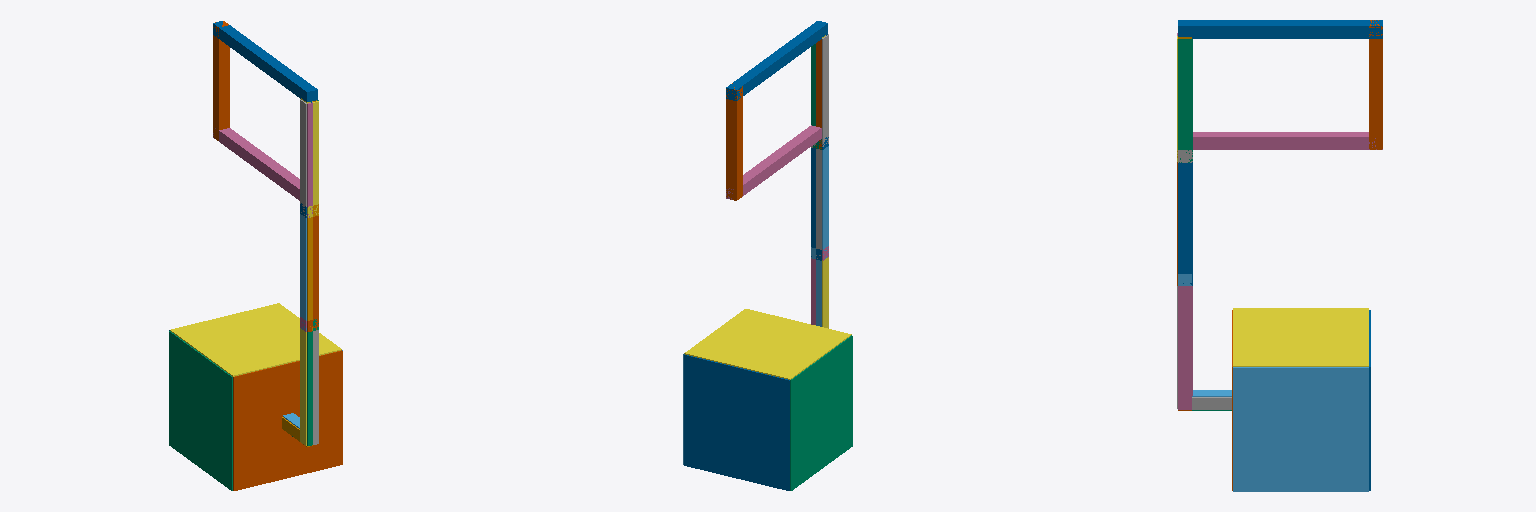
--- Render facts (derived) ---
3 views of the same robot in one strip: view 1: azimuth 30°, elevation 25°; view 2: azimuth 150°, elevation 25°; view 3: azimuth 270°, elevation 25° (orthographic).
Robot: robot — 93 links, 92 joints (3 continuous, 89 fixed); root link body; default pose: every joint at zero.
Visible links, largest first — view 1: body_sensor_0_right, body_sensor_0_stop, body_sensor_0_top, hand_2, hand_4, hand_3, arm_1_sensor_1_stop, hand_1_sensor_1_stop, arm_2_sensor_1_stop, arm_1_sensor_1_right, arm_1_sensor_0_right, arm_2_sensor_1_right (+3 smaller); view 2: body_sensor_0_left, body_sensor_0_stop, body_sensor_0_top, hand_2, hand_3, hand_4, hand_1_sensor_1_stop, arm_2_sensor_1_stop, arm_2_sensor_0_left, hand_1_sensor_0_left; view 3: body_sensor_0_start, body_sensor_0_top, hand_2, hand_4, arm_1_sensor_0_start, hand_3, hand_1_sensor_0_start, arm_2_sensor_0_start.
Link boxes in pixels (box(x1,y1,x2,y2)): body_sensor_0_right: box(233, 350, 342, 490); body_sensor_0_stop: box(169, 331, 232, 490); body_sensor_0_top: box(170, 303, 341, 376); hand_2: box(213, 21, 317, 102); hand_4: box(213, 128, 299, 200); hand_3: box(213, 21, 229, 140); arm_1_sensor_1_stop: box(300, 328, 306, 445); hand_1_sensor_1_stop: box(300, 99, 306, 216); arm_2_sensor_1_stop: box(300, 214, 306, 330); arm_1_sensor_1_right: box(313, 330, 318, 444); arm_1_sensor_0_right: box(307, 331, 312, 445); arm_2_sensor_1_right: box(313, 216, 318, 329); body_sensor_0_left: box(684, 354, 789, 490); body_sensor_0_stop: box(790, 335, 852, 490); body_sensor_0_top: box(684, 309, 851, 379); hand_2: box(726, 21, 827, 100); hand_3: box(726, 83, 742, 200); hand_4: box(726, 125, 821, 199); hand_1_sensor_1_stop: box(822, 34, 828, 146); arm_2_sensor_1_stop: box(822, 146, 828, 258); arm_2_sensor_0_left: box(816, 149, 821, 258); hand_1_sensor_0_left: box(816, 39, 821, 148); body_sensor_0_start: box(1233, 367, 1368, 491); body_sensor_0_top: box(1233, 308, 1368, 366); hand_2: box(1178, 20, 1382, 38); hand_4: box(1193, 132, 1382, 149); arm_1_sensor_0_start: box(1178, 286, 1191, 409); hand_3: box(1369, 20, 1382, 149); hand_1_sensor_0_start: box(1178, 39, 1191, 162); arm_2_sensor_0_start: box(1178, 163, 1191, 284).
Size in the robot's own frame: 1.02 by 1.51 by 3.55 metres.
Geometry: primitives only (box / cylinder / sphere), no mesh files.

The robot description file, URDF, robot "robot":
<?xml version="1.0"?>
<robot name="robot">


    <!-- body -->
    <link name="body">
        <inertial>
            <origin xyz="0 0 0" rpy="0 0 0"/>
            <mass value="100"/>
            <inertia ixx=".1" ixy=".1" ixz=".1" iyy=".1" iyz=".1" izz=".1"/>
        </inertial>
        <visual>
            <origin xyz="0 0 0" rpy="0 0 0"/>
            <geometry>
                <box size="1 1 1"/>
            </geometry>
        </visual>
        <collision>
            <origin xyz="0 0 0" rpy="0 0 0"/>
            <geometry>
                <box size="1 1 1"/>
            </geometry>
        </collision>
    </link>


    <!-- body_sensor_0_start -->
    <link name="body_sensor_0_start">
        <inertial>
            <origin xyz="0 0 0" rpy="0 0 0"/>
            <mass value="0"/>
            <inertia ixx=".1" ixy=".1" ixz=".1" iyy=".1" iyz=".1" izz=".1"/>
        </inertial>
        <visual>
            <origin xyz="0 0 0" rpy="0 0 0"/>
            <geometry>
                <box size="0.02 1 1"/>
            </geometry>
        </visual>
        <collision>
            <origin xyz="0 0 0" rpy="0 0 0"/>
            <geometry>
                <box size="0.02 1 1"/>
            </geometry>
        </collision>
    </link>


    <!-- Joint: body, body_sensor_0_start -->
    <joint name="body_body_sensor_0_start_joint" type="fixed"> 
        <parent link="body"/> 
        <child link="body_sensor_0_start"/> 
        <origin xyz="0.5 0 0" rpy="0 0 0"/> 
        <axis xyz="1 0 0"/> 
    </joint>


    <!-- body_sensor_0_stop -->
    <link name="body_sensor_0_stop">
        <inertial>
            <origin xyz="0 0 0" rpy="0 0 0"/>
            <mass value="0"/>
            <inertia ixx=".1" ixy=".1" ixz=".1" iyy=".1" iyz=".1" izz=".1"/>
        </inertial>
        <visual>
            <origin xyz="0 0 0" rpy="0 0 0"/>
            <geometry>
                <box size="0.02 1 1"/>
            </geometry>
        </visual>
        <collision>
            <origin xyz="0 0 0" rpy="0 0 0"/>
            <geometry>
                <box size="0.02 1 1"/>
            </geometry>
        </collision>
    </link>


    <!-- Joint: body, body_sensor_0_stop -->
    <joint name="body_body_sensor_0_stop_joint" type="fixed"> 
        <parent link="body"/> 
        <child link="body_sensor_0_stop"/> 
        <origin xyz="-0.5 0 0" rpy="0 0 0"/> 
        <axis xyz="1 0 0"/> 
    </joint>


    <!-- body_sensor_0_top -->
    <link name="body_sensor_0_top">
        <inertial>
            <origin xyz="0 0 0" rpy="0 0 0"/>
            <mass value="0"/>
            <inertia ixx=".1" ixy=".1" ixz=".1" iyy=".1" iyz=".1" izz=".1"/>
        </inertial>
        <visual>
            <origin xyz="0 0 0" rpy="0 0 0"/>
            <geometry>
                <box size="1.0 1 0.02"/>
            </geometry>
        </visual>
        <collision>
            <origin xyz="0 0 0" rpy="0 0 0"/>
            <geometry>
                <box size="1.0 1 0.02"/>
            </geometry>
        </collision>
    </link>


    <!-- Joint: body, body_sensor_0_top -->
    <joint name="body_body_sensor_0_top_joint" type="fixed"> 
        <parent link="body"/> 
        <child link="body_sensor_0_top"/> 
        <origin xyz="0 0 0.5" rpy="0 0 0"/> 
        <axis xyz="1 0 0"/> 
    </joint>


    <!-- body_sensor_0_left -->
    <link name="body_sensor_0_left">
        <inertial>
            <origin xyz="0 0 0" rpy="0 0 0"/>
            <mass value="0"/>
            <inertia ixx=".1" ixy=".1" ixz=".1" iyy=".1" iyz=".1" izz=".1"/>
        </inertial>
        <visual>
            <origin xyz="0 0 0" rpy="0 0 0"/>
            <geometry>
                <box size="1.0 0.02 1"/>
            </geometry>
        </visual>
        <collision>
            <origin xyz="0 0 0" rpy="0 0 0"/>
            <geometry>
                <box size="1.0 0.02 1"/>
            </geometry>
        </collision>
    </link>


    <!-- Joint: body, body_sensor_0_left -->
    <joint name="body_body_sensor_0_left_joint" type="fixed"> 
        <parent link="body"/> 
        <child link="body_sensor_0_left"/> 
        <origin xyz="0 0.5 0" rpy="0 0 0"/> 
        <axis xyz="1 0 0"/> 
    </joint>


    <!-- body_sensor_0_right -->
    <link name="body_sensor_0_right">
        <inertial>
            <origin xyz="0 0 0" rpy="0 0 0"/>
            <mass value="0"/>
            <inertia ixx=".1" ixy=".1" ixz=".1" iyy=".1" iyz=".1" izz=".1"/>
        </inertial>
        <visual>
            <origin xyz="0 0 0" rpy="0 0 0"/>
            <geometry>
                <box size="1.0 0.02 1"/>
            </geometry>
        </visual>
        <collision>
            <origin xyz="0 0 0" rpy="0 0 0"/>
            <geometry>
                <box size="1.0 0.02 1"/>
            </geometry>
        </collision>
    </link>


    <!-- Joint: body, body_sensor_0_right -->
    <joint name="body_body_sensor_0_right_joint" type="fixed"> 
        <parent link="body"/> 
        <child link="body_sensor_0_right"/> 
        <origin xyz="0 -0.5 0" rpy="0 0 0"/> 
        <axis xyz="1 0 0"/> 
    </joint>


    <!-- shoulder -->
    <link name="shoulder">
        <inertial>
            <origin xyz="0 0 0" rpy="0 0 0"/>
            <mass value="0.1"/>
            <inertia ixx=".1" ixy=".1" ixz=".1" iyy=".1" iyz=".1" izz=".1"/>
        </inertial>
        <visual>
            <origin xyz="0 0 0" rpy="0 0 0"/>
            <geometry>
                <box size="0.1 0.3 0.1"/>
            </geometry>
        </visual>
        <collision>
            <origin xyz="0 0 0" rpy="0 0 0"/>
            <geometry>
                <box size="0.1 0.3 0.1"/>
            </geometry>
        </collision>
    </link>


    <!-- shoulder_sensor_0_start -->
    <link name="shoulder_sensor_0_start">
        <inertial>
            <origin xyz="0 0 0" rpy="0 0 0"/>
            <mass value="0"/>
            <inertia ixx=".1" ixy=".1" ixz=".1" iyy=".1" iyz=".1" izz=".1"/>
        </inertial>
        <visual>
            <origin xyz="0 0 0" rpy="0 0 0"/>
            <geometry>
                <box size="0.02 0.3 0.1"/>
            </geometry>
        </visual>
        <collision>
            <origin xyz="0 0 0" rpy="0 0 0"/>
            <geometry>
                <box size="0.02 0.3 0.1"/>
            </geometry>
        </collision>
    </link>


    <!-- Joint: shoulder, shoulder_sensor_0_start -->
    <joint name="shoulder_shoulder_sensor_0_start_joint" type="fixed"> 
        <parent link="shoulder"/> 
        <child link="shoulder_sensor_0_start"/> 
        <origin xyz="0.05 0 0" rpy="0 0 0"/> 
        <axis xyz="0 -1 0"/> 
    </joint>


    <!-- shoulder_sensor_0_stop -->
    <link name="shoulder_sensor_0_stop">
        <inertial>
            <origin xyz="0 0 0" rpy="0 0 0"/>
            <mass value="0"/>
            <inertia ixx=".1" ixy=".1" ixz=".1" iyy=".1" iyz=".1" izz=".1"/>
        </inertial>
        <visual>
            <origin xyz="0 0 0" rpy="0 0 0"/>
            <geometry>
                <box size="0.02 0.3 0.1"/>
            </geometry>
        </visual>
        <collision>
            <origin xyz="0 0 0" rpy="0 0 0"/>
            <geometry>
                <box size="0.02 0.3 0.1"/>
            </geometry>
        </collision>
    </link>


    <!-- Joint: shoulder, shoulder_sensor_0_stop -->
    <joint name="shoulder_shoulder_sensor_0_stop_joint" type="fixed"> 
        <parent link="shoulder"/> 
        <child link="shoulder_sensor_0_stop"/> 
        <origin xyz="-0.05 0 0" rpy="0 0 0"/> 
        <axis xyz="0 -1 0"/> 
    </joint>


    <!-- shoulder_sensor_0_top -->
    <link name="shoulder_sensor_0_top">
        <inertial>
            <origin xyz="0 0 0" rpy="0 0 0"/>
            <mass value="0"/>
            <inertia ixx=".1" ixy=".1" ixz=".1" iyy=".1" iyz=".1" izz=".1"/>
        </inertial>
        <visual>
            <origin xyz="0 0 0" rpy="0 0 0"/>
            <geometry>
                <box size="0.1 0.3 0.02"/>
            </geometry>
        </visual>
        <collision>
            <origin xyz="0 0 0" rpy="0 0 0"/>
            <geometry>
                <box size="0.1 0.3 0.02"/>
            </geometry>
        </collision>
    </link>


    <!-- Joint: shoulder, shoulder_sensor_0_top -->
    <joint name="shoulder_shoulder_sensor_0_top_joint" type="fixed"> 
        <parent link="shoulder"/> 
        <child link="shoulder_sensor_0_top"/> 
        <origin xyz="0 0 0.05" rpy="0 0 0"/> 
        <axis xyz="0 -1 0"/> 
    </joint>


    <!-- shoulder_sensor_0_bottom -->
    <link name="shoulder_sensor_0_bottom">
        <inertial>
            <origin xyz="0 0 0" rpy="0 0 0"/>
            <mass value="0"/>
            <inertia ixx=".1" ixy=".1" ixz=".1" iyy=".1" iyz=".1" izz=".1"/>
        </inertial>
        <visual>
            <origin xyz="0 0 0" rpy="0 0 0"/>
            <geometry>
                <box size="0.1 0.3 0.02"/>
            </geometry>
        </visual>
        <collision>
            <origin xyz="0 0 0" rpy="0 0 0"/>
            <geometry>
                <box size="0.1 0.3 0.02"/>
            </geometry>
        </collision>
    </link>


    <!-- Joint: shoulder, shoulder_sensor_0_bottom -->
    <joint name="shoulder_shoulder_sensor_0_bottom_joint" type="fixed"> 
        <parent link="shoulder"/> 
        <child link="shoulder_sensor_0_bottom"/> 
        <origin xyz="0 0 -0.05" rpy="0 0 0"/> 
        <axis xyz="0 -1 0"/> 
    </joint>


    <!-- shoulder_sensor_0_left -->
    <link name="shoulder_sensor_0_left">
        <inertial>
            <origin xyz="0 0 0" rpy="0 0 0"/>
            <mass value="0"/>
            <inertia ixx=".1" ixy=".1" ixz=".1" iyy=".1" iyz=".1" izz=".1"/>
        </inertial>
        <visual>
            <origin xyz="0 0 0" rpy="0 0 0"/>
            <geometry>
                <box size="0.1 0.02 0.1"/>
            </geometry>
        </visual>
        <collision>
            <origin xyz="0 0 0" rpy="0 0 0"/>
            <geometry>
                <box size="0.1 0.02 0.1"/>
            </geometry>
        </collision>
    </link>


    <!-- Joint: shoulder, shoulder_sensor_0_left -->
    <joint name="shoulder_shoulder_sensor_0_left_joint" type="fixed"> 
        <parent link="shoulder"/> 
        <child link="shoulder_sensor_0_left"/> 
        <origin xyz="0 0.15 0" rpy="0 0 0"/> 
        <axis xyz="0 -1 0"/> 
    </joint>


    <!-- shoulder_sensor_0_right -->
    <link name="shoulder_sensor_0_right">
        <inertial>
            <origin xyz="0 0 0" rpy="0 0 0"/>
            <mass value="0"/>
            <inertia ixx=".1" ixy=".1" ixz=".1" iyy=".1" iyz=".1" izz=".1"/>
        </inertial>
        <visual>
            <origin xyz="0 0 0" rpy="0 0 0"/>
            <geometry>
                <box size="0.1 0.02 0.1"/>
            </geometry>
        </visual>
        <collision>
            <origin xyz="0 0 0" rpy="0 0 0"/>
            <geometry>
                <box size="0.1 0.02 0.1"/>
            </geometry>
        </collision>
    </link>


    <!-- Joint: shoulder, shoulder_sensor_0_right -->
    <joint name="shoulder_shoulder_sensor_0_right_joint" type="fixed"> 
        <parent link="shoulder"/> 
        <child link="shoulder_sensor_0_right"/> 
        <origin xyz="0 -0.15 0" rpy="0 0 0"/> 
        <axis xyz="0 -1 0"/> 
    </joint>


    <!-- Joint: body, shoulder -->
    <joint name="body_shoulder_joint" type="continuous"> 
        <parent link="body"/> 
        <child link="shoulder"/> 
        <origin xyz="0 -0.65 0" rpy="0 0 0"/> 
        <axis xyz="0 -1 0"/> 
    </joint>


    <!-- arm_1 -->
    <link name="arm_1">
        <inertial>
            <origin xyz="0 0 0" rpy="0 0 0"/>
            <mass value="0.1"/>
            <inertia ixx=".1" ixy=".1" ixz=".1" iyy=".1" iyz=".1" izz=".1"/>
        </inertial>
        <visual>
            <origin xyz="0 0 0" rpy="0 0 0"/>
            <geometry>
                <box size="0.1 0.1 1"/>
            </geometry>
        </visual>
        <collision>
            <origin xyz="0 0 0" rpy="0 0 0"/>
            <geometry>
                <box size="0.1 0.1 1"/>
            </geometry>
        </collision>
    </link>


    <!-- arm_1_sensor_0_start -->
    <link name="arm_1_sensor_0_start">
        <inertial>
            <origin xyz="0 0 0" rpy="0 0 0"/>
            <mass value="0"/>
            <inertia ixx=".1" ixy=".1" ixz=".1" iyy=".1" iyz=".1" izz=".1"/>
        </inertial>
        <visual>
            <origin xyz="0 0 0" rpy="0 0 0"/>
            <geometry>
                <box size="0.02 0.1 1"/>
            </geometry>
        </visual>
        <collision>
            <origin xyz="0 0 0" rpy="0 0 0"/>
            <geometry>
                <box size="0.02 0.1 1"/>
            </geometry>
        </collision>
    </link>


    <!-- Joint: arm_1, arm_1_sensor_0_start -->
    <joint name="arm_1_arm_1_sensor_0_start_joint" type="fixed"> 
        <parent link="arm_1"/> 
        <child link="arm_1_sensor_0_start"/> 
        <origin xyz="0.05 0 0" rpy="0 0 0"/> 
        <axis xyz="1 0 0"/> 
    </joint>


    <!-- arm_1_sensor_0_top -->
    <link name="arm_1_sensor_0_top">
        <inertial>
            <origin xyz="0 0 0" rpy="0 0 0"/>
            <mass value="0"/>
            <inertia ixx=".1" ixy=".1" ixz=".1" iyy=".1" iyz=".1" izz=".1"/>
        </inertial>
        <visual>
            <origin xyz="0 0 0" rpy="0 0 0"/>
            <geometry>
                <box size="0.05 0.1 0.02"/>
            </geometry>
        </visual>
        <collision>
            <origin xyz="0 0 0" rpy="0 0 0"/>
            <geometry>
                <box size="0.05 0.1 0.02"/>
            </geometry>
        </collision>
    </link>


    <!-- Joint: arm_1, arm_1_sensor_0_top -->
    <joint name="arm_1_arm_1_sensor_0_top_joint" type="fixed"> 
        <parent link="arm_1"/> 
        <child link="arm_1_sensor_0_top"/> 
        <origin xyz="-0.025 0 0.5" rpy="0 0 0"/> 
        <axis xyz="1 0 0"/> 
    </joint>


    <!-- arm_1_sensor_0_bottom -->
    <link name="arm_1_sensor_0_bottom">
        <inertial>
            <origin xyz="0 0 0" rpy="0 0 0"/>
            <mass value="0"/>
            <inertia ixx=".1" ixy=".1" ixz=".1" iyy=".1" iyz=".1" izz=".1"/>
        </inertial>
        <visual>
            <origin xyz="0 0 0" rpy="0 0 0"/>
            <geometry>
                <box size="0.05 0.1 0.02"/>
            </geometry>
        </visual>
        <collision>
            <origin xyz="0 0 0" rpy="0 0 0"/>
            <geometry>
                <box size="0.05 0.1 0.02"/>
            </geometry>
        </collision>
    </link>


    <!-- Joint: arm_1, arm_1_sensor_0_bottom -->
    <joint name="arm_1_arm_1_sensor_0_bottom_joint" type="fixed"> 
        <parent link="arm_1"/> 
        <child link="arm_1_sensor_0_bottom"/> 
        <origin xyz="-0.025 0 -0.5" rpy="0 0 0"/> 
        <axis xyz="1 0 0"/> 
    </joint>


    <!-- arm_1_sensor_0_left -->
    <link name="arm_1_sensor_0_left">
        <inertial>
            <origin xyz="0 0 0" rpy="0 0 0"/>
            <mass value="0"/>
            <inertia ixx=".1" ixy=".1" ixz=".1" iyy=".1" iyz=".1" izz=".1"/>
        </inertial>
        <visual>
            <origin xyz="0 0 0" rpy="0 0 0"/>
            <geometry>
                <box size="0.05 0.02 1"/>
            </geometry>
        </visual>
        <collision>
            <origin xyz="0 0 0" rpy="0 0 0"/>
            <geometry>
                <box size="0.05 0.02 1"/>
            </geometry>
        </collision>
    </link>


    <!-- Joint: arm_1, arm_1_sensor_0_left -->
    <joint name="arm_1_arm_1_sensor_0_left_joint" type="fixed"> 
        <parent link="arm_1"/> 
        <child link="arm_1_sensor_0_left"/> 
        <origin xyz="-0.025 0.05 0" rpy="0 0 0"/> 
        <axis xyz="1 0 0"/> 
    </joint>


    <!-- arm_1_sensor_0_right -->
    <link name="arm_1_sensor_0_right">
        <inertial>
            <origin xyz="0 0 0" rpy="0 0 0"/>
            <mass value="0"/>
            <inertia ixx=".1" ixy=".1" ixz=".1" iyy=".1" iyz=".1" izz=".1"/>
        </inertial>
        <visual>
            <origin xyz="0 0 0" rpy="0 0 0"/>
            <geometry>
                <box size="0.05 0.02 1"/>
            </geometry>
        </visual>
        <collision>
            <origin xyz="0 0 0" rpy="0 0 0"/>
            <geometry>
                <box size="0.05 0.02 1"/>
            </geometry>
        </collision>
    </link>


    <!-- Joint: arm_1, arm_1_sensor_0_right -->
    <joint name="arm_1_arm_1_sensor_0_right_joint" type="fixed"> 
        <parent link="arm_1"/> 
        <child link="arm_1_sensor_0_right"/> 
        <origin xyz="-0.025 -0.05 0" rpy="0 0 0"/> 
        <axis xyz="1 0 0"/> 
    </joint>


    <!-- arm_1_sensor_1_stop -->
    <link name="arm_1_sensor_1_stop">
        <inertial>
            <origin xyz="0 0 0" rpy="0 0 0"/>
            <mass value="0"/>
            <inertia ixx=".1" ixy=".1" ixz=".1" iyy=".1" iyz=".1" izz=".1"/>
        </inertial>
        <visual>
            <origin xyz="0 0 0" rpy="0 0 0"/>
            <geometry>
                <box size="0.02 0.1 1"/>
            </geometry>
        </visual>
        <collision>
            <origin xyz="0 0 0" rpy="0 0 0"/>
            <geometry>
                <box size="0.02 0.1 1"/>
            </geometry>
        </collision>
    </link>


    <!-- Joint: arm_1, arm_1_sensor_1_stop -->
    <joint name="arm_1_arm_1_sensor_1_stop_joint" type="fixed"> 
        <parent link="arm_1"/> 
        <child link="arm_1_sensor_1_stop"/> 
        <origin xyz="-0.05 0 0" rpy="0 0 0"/> 
        <axis xyz="1 0 0"/> 
    </joint>


    <!-- arm_1_sensor_1_top -->
    <link name="arm_1_sensor_1_top">
        <inertial>
            <origin xyz="0 0 0" rpy="0 0 0"/>
            <mass value="0"/>
            <inertia ixx=".1" ixy=".1" ixz=".1" iyy=".1" iyz=".1" izz=".1"/>
        </inertial>
        <visual>
            <origin xyz="0 0 0" rpy="0 0 0"/>
            <geometry>
                <box size="0.05 0.1 0.02"/>
            </geometry>
        </visual>
        <collision>
            <origin xyz="0 0 0" rpy="0 0 0"/>
            <geometry>
                <box size="0.05 0.1 0.02"/>
            </geometry>
        </collision>
    </link>


    <!-- Joint: arm_1, arm_1_sensor_1_top -->
    <joint name="arm_1_arm_1_sensor_1_top_joint" type="fixed"> 
        <parent link="arm_1"/> 
        <child link="arm_1_sensor_1_top"/> 
        <origin xyz="0.025 0 0.5" rpy="0 0 0"/> 
        <axis xyz="1 0 0"/> 
    </joint>


    <!-- arm_1_sensor_1_bottom -->
    <link name="arm_1_sensor_1_bottom">
        <inertial>
            <origin xyz="0 0 0" rpy="0 0 0"/>
            <mass value="0"/>
            <inertia ixx=".1" ixy=".1" ixz=".1" iyy=".1" iyz=".1" izz=".1"/>
        </inertial>
        <visual>
            <origin xyz="0 0 0" rpy="0 0 0"/>
            <geometry>
                <box size="0.05 0.1 0.02"/>
            </geometry>
        </visual>
        <collision>
            <origin xyz="0 0 0" rpy="0 0 0"/>
            <geometry>
                <box size="0.05 0.1 0.02"/>
            </geometry>
        </collision>
    </link>


    <!-- Joint: arm_1, arm_1_sensor_1_bottom -->
    <joint name="arm_1_arm_1_sensor_1_bottom_joint" type="fixed"> 
        <parent link="arm_1"/> 
        <child link="arm_1_sensor_1_bottom"/> 
        <origin xyz="0.025 0 -0.5" rpy="0 0 0"/> 
        <axis xyz="1 0 0"/> 
    </joint>


    <!-- arm_1_sensor_1_left -->
    <link name="arm_1_sensor_1_left">
        <inertial>
            <origin xyz="0 0 0" rpy="0 0 0"/>
            <mass value="0"/>
            <inertia ixx=".1" ixy=".1" ixz=".1" iyy=".1" iyz=".1" izz=".1"/>
        </inertial>
        <visual>
            <origin xyz="0 0 0" rpy="0 0 0"/>
            <geometry>
                <box size="0.05 0.02 1"/>
            </geometry>
        </visual>
        <collision>
            <origin xyz="0 0 0" rpy="0 0 0"/>
            <geometry>
                <box size="0.05 0.02 1"/>
            </geometry>
        </collision>
    </link>


    <!-- Joint: arm_1, arm_1_sensor_1_left -->
    <joint name="arm_1_arm_1_sensor_1_left_joint" type="fixed"> 
        <parent link="arm_1"/> 
        <child link="arm_1_sensor_1_left"/> 
        <origin xyz="0.025 0.05 0" rpy="0 0 0"/> 
        <axis xyz="1 0 0"/> 
    </joint>


    <!-- arm_1_sensor_1_right -->
    <link name="arm_1_sensor_1_right">
        <inertial>
            <origin xyz="0 0 0" rpy="0 0 0"/>
            <mass value="0"/>
            <inertia ixx=".1" ixy=".1" ixz=".1" iyy=".1" iyz=".1" izz=".1"/>
        </inertial>
        <visual>
            <origin xyz="0 0 0" rpy="0 0 0"/>
            <geometry>
                <box size="0.05 0.02 1"/>
            </geometry>
        </visual>
        <collision>
            <origin xyz="0 0 0" rpy="0 0 0"/>
            <geometry>
                <box size="0.05 0.02 1"/>
            </geometry>
        </collision>
    </link>


    <!-- Joint: arm_1, arm_1_sensor_1_right -->
    <joint name="arm_1_arm_1_sensor_1_right_joint" type="fixed"> 
        <parent link="arm_1"/> 
        <child link="arm_1_sensor_1_right"/> 
        <origin xyz="0.025 -0.05 0" rpy="0 0 0"/> 
        <axis xyz="1 0 0"/> 
    </joint>


    <!-- Joint: shoulder, arm_1 -->
    <joint name="shoulder_arm_1_joint" type="fixed"> 
        <parent link="shoulder"/> 
        <child link="arm_1"/> 
        <origin xyz="0 -0.2 0.45" rpy="0 0 0"/> 
        <axis xyz="1 0 0"/> 
    </joint>


    <!-- elbow -->
    <link name="elbow">
        <inertial>
            <origin xyz="0 0 0" rpy="0 0 0"/>
            <mass value="0.1"/>
            <inertia ixx=".1" ixy=".1" ixz=".1" iyy=".1" iyz=".1" izz=".1"/>
        </inertial>
        <visual>
            <origin xyz="0 0 0" rpy="0 0 0"/>
            <geometry>
                <box size="0.1 0.1 0.1"/>
            </geometry>
        </visual>
        <collision>
            <origin xyz="0 0 0" rpy="0 0 0"/>
            <geometry>
                <box size="0.1 0.1 0.1"/>
            </geometry>
        </collision>
    </link>


    <!-- elbow_sensor_0_start -->
    <link name="elbow_sensor_0_start">
        <inertial>
            <origin xyz="0 0 0" rpy="0 0 0"/>
            <mass value="0"/>
            <inertia ixx=".1" ixy=".1" ixz=".1" iyy=".1" iyz=".1" izz=".1"/>
        </inertial>
        <visual>
            <origin xyz="0 0 0" rpy="0 0 0"/>
            <geometry>
                <box size="0.02 0.1 0.1"/>
            </geometry>
        </visual>
        <collision>
            <origin xyz="0 0 0" rpy="0 0 0"/>
            <geometry>
                <box size="0.02 0.1 0.1"/>
            </geometry>
        </collision>
    </link>


    <!-- Joint: elbow, elbow_sensor_0_start -->
    <joint name="elbow_elbow_sensor_0_start_joint" type="fixed"> 
        <parent link="elbow"/> 
        <child link="elbow_sensor_0_start"/> 
        <origin xyz="0.05 0 0" rpy="0 0 0"/> 
        <axis xyz="0 -1 0"/> 
    </joint>


    <!-- elbow_sensor_0_top -->
    <link name="elbow_sensor_0_top">
        <inertial>
            <origin xyz="0 0 0" rpy="0 0 0"/>
            <mass value="0"/>
            <inertia ixx=".1" ixy=".1" ixz=".1" iyy=".1" iyz=".1" izz=".1"/>
        </inertial>
        <visual>
            <origin xyz="0 0 0" rpy="0 0 0"/>
            <geometry>
                <box size="0.05 0.1 0.02"/>
            </geometry>
        </visual>
        <collision>
            <origin xyz="0 0 0" rpy="0 0 0"/>
            <geometry>
                <box size="0.05 0.1 0.02"/>
            </geometry>
        </collision>
    </link>


    <!-- Joint: elbow, elbow_sensor_0_top -->
    <joint name="elbow_elbow_sensor_0_top_joint" type="fixed"> 
        <parent link="elbow"/> 
        <child link="elbow_sensor_0_top"/> 
        <origin xyz="-0.025 0 0.05" rpy="0 0 0"/> 
        <axis xyz="0 -1 0"/> 
    </joint>


    <!-- elbow_sensor_0_bottom -->
    <link name="elbow_sensor_0_bottom">
        <inertial>
            <origin xyz="0 0 0" rpy="0 0 0"/>
            <mass value="0"/>
            <inertia ixx=".1" ixy=".1" ixz=".1" iyy=".1" iyz=".1" izz=".1"/>
        </inertial>
        <visual>
            <origin xyz="0 0 0" rpy="0 0 0"/>
            <geometry>
                <box size="0.05 0.1 0.02"/>
            </geometry>
        </visual>
        <collision>
            <origin xyz="0 0 0" rpy="0 0 0"/>
            <geometry>
                <box size="0.05 0.1 0.02"/>
            </geometry>
        </collision>
    </link>


    <!-- Joint: elbow, elbow_sensor_0_bottom -->
    <joint name="elbow_elbow_sensor_0_bottom_joint" type="fixed"> 
        <parent link="elbow"/> 
        <child link="elbow_sensor_0_bottom"/> 
        <origin xyz="-0.025 0 -0.05" rpy="0 0 0"/> 
        <axis xyz="0 -1 0"/> 
    </joint>


    <!-- elbow_sensor_0_left -->
    <link name="elbow_sensor_0_left">
        <inertial>
            <origin xyz="0 0 0" rpy="0 0 0"/>
            <mass value="0"/>
            <inertia ixx=".1" ixy=".1" ixz=".1" iyy=".1" iyz=".1" izz=".1"/>
        </inertial>
        <visual>
            <origin xyz="0 0 0" rpy="0 0 0"/>
            <geometry>
                <box size="0.05 0.02 0.1"/>
            </geometry>
        </visual>
        <collision>
            <origin xyz="0 0 0" rpy="0 0 0"/>
            <geometry>
                <box size="0.05 0.02 0.1"/>
            </geometry>
        </collision>
    </link>


    <!-- Joint: elbow, elbow_sensor_0_left -->
    <joint name="elbow_elbow_sensor_0_left_joint" type="fixed"> 
        <parent link="elbow"/> 
        <child link="elbow_sensor_0_left"/> 
        <origin xyz="-0.025 0.05 0" rpy="0 0 0"/> 
        <axis xyz="0 -1 0"/> 
    </joint>


    <!-- elbow_sensor_0_right -->
    <link name="elbow_sensor_0_right">
        <inertial>
            <origin xyz="0 0 0" rpy="0 0 0"/>
            <mass value="0"/>
            <inertia ixx=".1" ixy=".1" ixz=".1" iyy=".1" iyz=".1" izz=".1"/>
        </inertial>
        <visual>
            <origin xyz="0 0 0" rpy="0 0 0"/>
            <geometry>
                <box size="0.05 0.02 0.1"/>
            </geometry>
        </visual>
        <collision>
            <origin xyz="0 0 0" rpy="0 0 0"/>
            <geometry>
                <box size="0.05 0.02 0.1"/>
            </geometry>
        </collision>
    </link>


    <!-- Joint: elbow, elbow_sensor_0_right -->
    <joint name="elbow_elbow_sensor_0_right_joint" type="fixed"> 
        <parent link="elbow"/> 
        <child link="elbow_sensor_0_right"/> 
        <origin xyz="-0.025 -0.05 0" rpy="0 0 0"/> 
        <axis xyz="0 -1 0"/> 
    </joint>


    <!-- elbow_sensor_1_stop -->
    <link name="elbow_sensor_1_stop">
        <inertial>
            <origin xyz="0 0 0" rpy="0 0 0"/>
            <mass value="0"/>
            <inertia ixx=".1" ixy=".1" ixz=".1" iyy=".1" iyz=".1" izz=".1"/>
        </inertial>
        <visual>
            <origin xyz="0 0 0" rpy="0 0 0"/>
            <geometry>
                <box size="0.02 0.1 0.1"/>
            </geometry>
        </visual>
        <collision>
            <origin xyz="0 0 0" rpy="0 0 0"/>
            <geometry>
                <box size="0.02 0.1 0.1"/>
            </geometry>
        </collision>
    </link>


    <!-- Joint: elbow, elbow_sensor_1_stop -->
    <joint name="elbow_elbow_sensor_1_stop_joint" type="fixed"> 
        <parent link="elbow"/> 
        <child link="elbow_sensor_1_stop"/> 
        <origin xyz="-0.05 0 0" rpy="0 0 0"/> 
        <axis xyz="0 -1 0"/> 
    </joint>


    <!-- elbow_sensor_1_top -->
    <link name="elbow_sensor_1_top">
        <inertial>
            <origin xyz="0 0 0" rpy="0 0 0"/>
            <mass value="0"/>
            <inertia ixx=".1" ixy=".1" ixz=".1" iyy=".1" iyz=".1" izz=".1"/>
        </inertial>
        <visual>
            <origin xyz="0 0 0" rpy="0 0 0"/>
            <geometry>
                <box size="0.05 0.1 0.02"/>
            </geometry>
        </visual>
        <collision>
            <origin xyz="0 0 0" rpy="0 0 0"/>
            <geometry>
                <box size="0.05 0.1 0.02"/>
            </geometry>
        </collision>
    </link>


    <!-- Joint: elbow, elbow_sensor_1_top -->
    <joint name="elbow_elbow_sensor_1_top_joint" type="fixed"> 
        <parent link="elbow"/> 
        <child link="elbow_sensor_1_top"/> 
        <origin xyz="0.025 0 0.05" rpy="0 0 0"/> 
        <axis xyz="0 -1 0"/> 
    </joint>


    <!-- elbow_sensor_1_bottom -->
    <link name="elbow_sensor_1_bottom">
        <inertial>
            <origin xyz="0 0 0" rpy="0 0 0"/>
            <mass value="0"/>
            <inertia ixx=".1" ixy=".1" ixz=".1" iyy=".1" iyz=".1" izz=".1"/>
        </inertial>
        <visual>
            <origin xyz="0 0 0" rpy="0 0 0"/>
            <geometry>
                <box size="0.05 0.1 0.02"/>
            </geometry>
        </visual>
        <collision>
            <origin xyz="0 0 0" rpy="0 0 0"/>
            <geometry>
                <box size="0.05 0.1 0.02"/>
            </geometry>
        </collision>
    </link>


    <!-- Joint: elbow, elbow_sensor_1_bottom -->
    <joint name="elbow_elbow_sensor_1_bottom_joint" type="fixed"> 
        <parent link="elbow"/> 
        <child link="elbow_sensor_1_bottom"/> 
        <origin xyz="0.025 0 -0.05" rpy="0 0 0"/> 
        <axis xyz="0 -1 0"/> 
    </joint>


    <!-- elbow_sensor_1_left -->
    <link name="elbow_sensor_1_left">
        <inertial>
            <origin xyz="0 0 0" rpy="0 0 0"/>
            <mass value="0"/>
            <inertia ixx=".1" ixy=".1" ixz=".1" iyy=".1" iyz=".1" izz=".1"/>
        </inertial>
        <visual>
            <origin xyz="0 0 0" rpy="0 0 0"/>
            <geometry>
                <box size="0.05 0.02 0.1"/>
            </geometry>
        </visual>
        <collision>
            <origin xyz="0 0 0" rpy="0 0 0"/>
            <geometry>
                <box size="0.05 0.02 0.1"/>
            </geometry>
        </collision>
    </link>


    <!-- Joint: elbow, elbow_sensor_1_left -->
    <joint name="elbow_elbow_sensor_1_left_joint" type="fixed"> 
        <parent link="elbow"/> 
        <child link="elbow_sensor_1_left"/> 
        <origin xyz="0.025 0.05 0" rpy="0 0 0"/> 
        <axis xyz="0 -1 0"/> 
    </joint>


    <!-- elbow_sensor_1_right -->
    <link name="elbow_sensor_1_right">
        <inertial>
            <origin xyz="0 0 0" rpy="0 0 0"/>
            <mass value="0"/>
            <inertia ixx=".1" ixy=".1" ixz=".1" iyy=".1" iyz=".1" izz=".1"/>
        </inertial>
        <visual>
            <origin xyz="0 0 0" rpy="0 0 0"/>
            <geometry>
                <box size="0.05 0.02 0.1"/>
            </geometry>
        </visual>
        <collision>
            <origin xyz="0 0 0" rpy="0 0 0"/>
            <geometry>
                <box size="0.05 0.02 0.1"/>
            </geometry>
        </collision>
    </link>


    <!-- Joint: elbow, elbow_sensor_1_right -->
    <joint name="elbow_elbow_sensor_1_right_joint" type="fixed"> 
        <parent link="elbow"/> 
        <child link="elbow_sensor_1_right"/> 
        <origin xyz="0.025 -0.05 0" rpy="0 0 0"/> 
        <axis xyz="0 -1 0"/> 
    </joint>


    <!-- Joint: arm_1, elbow -->
    <joint name="arm_1_elbow_joint" type="continuous"> 
        <parent link="arm_1"/> 
        <child link="elbow"/> 
        <origin xyz="0 0 0.55" rpy="0 0 0"/> 
        <axis xyz="0 -1 0"/> 
    </joint>


    <!-- arm_2 -->
    <link name="arm_2">
        <inertial>
            <origin xyz="0 0 0" rpy="0 0 0"/>
            <mass value="0.1"/>
            <inertia ixx=".1" ixy=".1" ixz=".1" iyy=".1" iyz=".1" izz=".1"/>
        </inertial>
        <visual>
            <origin xyz="0 0 0" rpy="0 0 0"/>
            <geometry>
                <box size="0.1 0.1 1"/>
            </geometry>
        </visual>
        <collision>
            <origin xyz="0 0 0" rpy="0 0 0"/>
            <geometry>
                <box size="0.1 0.1 1"/>
            </geometry>
        </collision>
    </link>


    <!-- arm_2_sensor_0_start -->
    <link name="arm_2_sensor_0_start">
        <inertial>
            <origin xyz="0 0 0" rpy="0 0 0"/>
            <mass value="0"/>
            <inertia ixx=".1" ixy=".1" ixz=".1" iyy=".1" iyz=".1" izz=".1"/>
        </inertial>
        <visual>
            <origin xyz="0 0 0" rpy="0 0 0"/>
            <geometry>
                <box size="0.02 0.1 1"/>
            </geometry>
        </visual>
        <collision>
            <origin xyz="0 0 0" rpy="0 0 0"/>
            <geometry>
                <box size="0.02 0.1 1"/>
            </geometry>
        </collision>
    </link>


    <!-- Joint: arm_2, arm_2_sensor_0_start -->
    <joint name="arm_2_arm_2_sensor_0_start_joint" type="fixed"> 
        <parent link="arm_2"/> 
        <child link="arm_2_sensor_0_start"/> 
        <origin xyz="0.05 0 0" rpy="0 0 0"/> 
        <axis xyz="1 0 0"/> 
    </joint>


    <!-- arm_2_sensor_0_top -->
    <link name="arm_2_sensor_0_top">
        <inertial>
            <origin xyz="0 0 0" rpy="0 0 0"/>
            <mass value="0"/>
            <inertia ixx=".1" ixy=".1" ixz=".1" iyy=".1" iyz=".1" izz=".1"/>
        </inertial>
        <visual>
            <origin xyz="0 0 0" rpy="0 0 0"/>
            <geometry>
                <box size="0.05 0.1 0.02"/>
            </geometry>
        </visual>
        <collision>
            <origin xyz="0 0 0" rpy="0 0 0"/>
            <geometry>
                <box size="0.05 0.1 0.02"/>
            </geometry>
        </collision>
    </link>


    <!-- Joint: arm_2, arm_2_sensor_0_top -->
    <joint name="arm_2_arm_2_sensor_0_top_joint" type="fixed"> 
        <parent link="arm_2"/> 
        <child link="arm_2_sensor_0_top"/> 
        <origin xyz="-0.025 0 0.5" rpy="0 0 0"/> 
        <axis xyz="1 0 0"/> 
    </joint>


    <!-- arm_2_sensor_0_bottom -->
    <link name="arm_2_sensor_0_bottom">
        <inertial>
            <origin xyz="0 0 0" rpy="0 0 0"/>
            <mass value="0"/>
            <inertia ixx=".1" ixy=".1" ixz=".1" iyy=".1" iyz=".1" izz=".1"/>
        </inertial>
        <visual>
            <origin xyz="0 0 0" rpy="0 0 0"/>
            <geometry>
                <box size="0.05 0.1 0.02"/>
            </geometry>
        </visual>
        <collision>
            <origin xyz="0 0 0" rpy="0 0 0"/>
            <geometry>
                <box size="0.05 0.1 0.02"/>
            </geometry>
        </collision>
    </link>


    <!-- Joint: arm_2, arm_2_sensor_0_bottom -->
    <joint name="arm_2_arm_2_sensor_0_bottom_joint" type="fixed"> 
        <parent link="arm_2"/> 
        <child link="arm_2_sensor_0_bottom"/> 
        <origin xyz="-0.025 0 -0.5" rpy="0 0 0"/> 
        <axis xyz="1 0 0"/> 
    </joint>


    <!-- arm_2_sensor_0_left -->
    <link name="arm_2_sensor_0_left">
        <inertial>
            <origin xyz="0 0 0" rpy="0 0 0"/>
            <mass value="0"/>
            <inertia ixx=".1" ixy=".1" ixz=".1" iyy=".1" iyz=".1" izz=".1"/>
        </inertial>
        <visual>
            <origin xyz="0 0 0" rpy="0 0 0"/>
            <geometry>
                <box size="0.05 0.02 1"/>
            </geometry>
        </visual>
        <collision>
            <origin xyz="0 0 0" rpy="0 0 0"/>
            <geometry>
                <box size="0.05 0.02 1"/>
            </geometry>
        </collision>
    </link>


    <!-- Joint: arm_2, arm_2_sensor_0_left -->
    <joint name="arm_2_arm_2_sensor_0_left_joint" type="fixed"> 
        <parent link="arm_2"/> 
        <child link="arm_2_sensor_0_left"/> 
        <origin xyz="-0.025 0.05 0" rpy="0 0 0"/> 
        <axis xyz="1 0 0"/> 
    </joint>


    <!-- arm_2_sensor_0_right -->
    <link name="arm_2_sensor_0_right">
        <inertial>
            <origin xyz="0 0 0" rpy="0 0 0"/>
            <mass value="0"/>
            <inertia ixx=".1" ixy=".1" ixz=".1" iyy=".1" iyz=".1" izz=".1"/>
        </inertial>
        <visual>
            <origin xyz="0 0 0" rpy="0 0 0"/>
            <geometry>
                <box size="0.05 0.02 1"/>
            </geometry>
        </visual>
        <collision>
            <origin xyz="0 0 0" rpy="0 0 0"/>
            <geometry>
                <box size="0.05 0.02 1"/>
            </geometry>
        </collision>
    </link>


    <!-- Joint: arm_2, arm_2_sensor_0_right -->
    <joint name="arm_2_arm_2_sensor_0_right_joint" type="fixed"> 
        <parent link="arm_2"/> 
        <child link="arm_2_sensor_0_right"/> 
        <origin xyz="-0.025 -0.05 0" rpy="0 0 0"/> 
        <axis xyz="1 0 0"/> 
    </joint>


    <!-- arm_2_sensor_1_stop -->
    <link name="arm_2_sensor_1_stop">
        <inertial>
            <origin xyz="0 0 0" rpy="0 0 0"/>
            <mass value="0"/>
            <inertia ixx=".1" ixy=".1" ixz=".1" iyy=".1" iyz=".1" izz=".1"/>
        </inertial>
        <visual>
            <origin xyz="0 0 0" rpy="0 0 0"/>
            <geometry>
                <box size="0.02 0.1 1"/>
            </geometry>
        </visual>
        <collision>
            <origin xyz="0 0 0" rpy="0 0 0"/>
            <geometry>
                <box size="0.02 0.1 1"/>
            </geometry>
        </collision>
    </link>


    <!-- Joint: arm_2, arm_2_sensor_1_stop -->
    <joint name="arm_2_arm_2_sensor_1_stop_joint" type="fixed"> 
        <parent link="arm_2"/> 
        <child link="arm_2_sensor_1_stop"/> 
        <origin xyz="-0.05 0 0" rpy="0 0 0"/> 
        <axis xyz="1 0 0"/> 
    </joint>


    <!-- arm_2_sensor_1_top -->
    <link name="arm_2_sensor_1_top">
        <inertial>
            <origin xyz="0 0 0" rpy="0 0 0"/>
            <mass value="0"/>
            <inertia ixx=".1" ixy=".1" ixz=".1" iyy=".1" iyz=".1" izz=".1"/>
        </inertial>
        <visual>
            <origin xyz="0 0 0" rpy="0 0 0"/>
            <geometry>
                <box size="0.05 0.1 0.02"/>
            </geometry>
        </visual>
        <collision>
            <origin xyz="0 0 0" rpy="0 0 0"/>
            <geometry>
                <box size="0.05 0.1 0.02"/>
            </geometry>
        </collision>
    </link>


    <!-- Joint: arm_2, arm_2_sensor_1_top -->
    <joint name="arm_2_arm_2_sensor_1_top_joint" type="fixed"> 
        <parent link="arm_2"/> 
        <child link="arm_2_sensor_1_top"/> 
        <origin xyz="0.025 0 0.5" rpy="0 0 0"/> 
        <axis xyz="1 0 0"/> 
    </joint>


    <!-- arm_2_sensor_1_bottom -->
    <link name="arm_2_sensor_1_bottom">
        <inertial>
            <origin xyz="0 0 0" rpy="0 0 0"/>
            <mass value="0"/>
            <inertia ixx=".1" ixy=".1" ixz=".1" iyy=".1" iyz=".1" izz=".1"/>
        </inertial>
        <visual>
            <origin xyz="0 0 0" rpy="0 0 0"/>
            <geometry>
                <box size="0.05 0.1 0.02"/>
            </geometry>
        </visual>
        <collision>
            <origin xyz="0 0 0" rpy="0 0 0"/>
            <geometry>
                <box size="0.05 0.1 0.02"/>
            </geometry>
        </collision>
    </link>


    <!-- Joint: arm_2, arm_2_sensor_1_bottom -->
    <joint name="arm_2_arm_2_sensor_1_bottom_joint" type="fixed"> 
        <parent link="arm_2"/> 
        <child link="arm_2_sensor_1_bottom"/> 
        <origin xyz="0.025 0 -0.5" rpy="0 0 0"/> 
        <axis xyz="1 0 0"/> 
    </joint>


    <!-- arm_2_sensor_1_left -->
    <link name="arm_2_sensor_1_left">
        <inertial>
            <origin xyz="0 0 0" rpy="0 0 0"/>
            <mass value="0"/>
            <inertia ixx=".1" ixy=".1" ixz=".1" iyy=".1" iyz=".1" izz=".1"/>
        </inertial>
        <visual>
            <origin xyz="0 0 0" rpy="0 0 0"/>
            <geometry>
                <box size="0.05 0.02 1"/>
            </geometry>
        </visual>
        <collision>
            <origin xyz="0 0 0" rpy="0 0 0"/>
            <geometry>
                <box size="0.05 0.02 1"/>
            </geometry>
        </collision>
    </link>


    <!-- Joint: arm_2, arm_2_sensor_1_left -->
    <joint name="arm_2_arm_2_sensor_1_left_joint" type="fixed"> 
        <parent link="arm_2"/> 
        <child link="arm_2_sensor_1_left"/> 
        <origin xyz="0.025 0.05 0" rpy="0 0 0"/> 
        <axis xyz="1 0 0"/> 
    </joint>


    <!-- arm_2_sensor_1_right -->
    <link name="arm_2_sensor_1_right">
        <inertial>
            <origin xyz="0 0 0" rpy="0 0 0"/>
            <mass value="0"/>
            <inertia ixx=".1" ixy=".1" ixz=".1" iyy=".1" iyz=".1" izz=".1"/>
        </inertial>
        <visual>
            <origin xyz="0 0 0" rpy="0 0 0"/>
            <geometry>
                <box size="0.05 0.02 1"/>
            </geometry>
        </visual>
        <collision>
            <origin xyz="0 0 0" rpy="0 0 0"/>
            <geometry>
                <box size="0.05 0.02 1"/>
            </geometry>
        </collision>
    </link>


    <!-- Joint: arm_2, arm_2_sensor_1_right -->
    <joint name="arm_2_arm_2_sensor_1_right_joint" type="fixed"> 
        <parent link="arm_2"/> 
        <child link="arm_2_sensor_1_right"/> 
        <origin xyz="0.025 -0.05 0" rpy="0 0 0"/> 
        <axis xyz="1 0 0"/> 
    </joint>


    <!-- Joint: elbow, arm_2 -->
    <joint name="elbow_arm_2_joint" type="fixed"> 
        <parent link="elbow"/> 
        <child link="arm_2"/> 
        <origin xyz="0 0 0.45" rpy="0 0 0"/> 
        <axis xyz="1 0 0"/> 
    </joint>


    <!-- wrist -->
    <link name="wrist">
        <inertial>
            <origin xyz="0 0 0" rpy="0 0 0"/>
            <mass value="0.1"/>
            <inertia ixx=".1" ixy=".1" ixz=".1" iyy=".1" iyz=".1" izz=".1"/>
        </inertial>
        <visual>
            <origin xyz="0 0 0" rpy="0 0 0"/>
            <geometry>
                <box size="0.1 0.1 0.1"/>
            </geometry>
        </visual>
        <collision>
            <origin xyz="0 0 0" rpy="0 0 0"/>
            <geometry>
                <box size="0.1 0.1 0.1"/>
            </geometry>
        </collision>
    </link>


    <!-- wrist_sensor_0_start -->
    <link name="wrist_sensor_0_start">
        <inertial>
            <origin xyz="0 0 0" rpy="0 0 0"/>
            <mass value="0"/>
            <inertia ixx=".1" ixy=".1" ixz=".1" iyy=".1" iyz=".1" izz=".1"/>
        </inertial>
        <visual>
            <origin xyz="0 0 0" rpy="0 0 0"/>
            <geometry>
                <box size="0.02 0.1 0.1"/>
            </geometry>
        </visual>
        <collision>
            <origin xyz="0 0 0" rpy="0 0 0"/>
            <geometry>
                <box size="0.02 0.1 0.1"/>
            </geometry>
        </collision>
    </link>


    <!-- Joint: wrist, wrist_sensor_0_start -->
    <joint name="wrist_wrist_sensor_0_start_joint" type="fixed"> 
        <parent link="wrist"/> 
        <child link="wrist_sensor_0_start"/> 
        <origin xyz="0.05 0 0" rpy="0 0 0"/> 
        <axis xyz="0 -1 0"/> 
    </joint>


    <!-- wrist_sensor_0_top -->
    <link name="wrist_sensor_0_top">
        <inertial>
            <origin xyz="0 0 0" rpy="0 0 0"/>
            <mass value="0"/>
            <inertia ixx=".1" ixy=".1" ixz=".1" iyy=".1" iyz=".1" izz=".1"/>
        </inertial>
        <visual>
            <origin xyz="0 0 0" rpy="0 0 0"/>
            <geometry>
                <box size="0.05 0.1 0.02"/>
            </geometry>
        </visual>
        <collision>
            <origin xyz="0 0 0" rpy="0 0 0"/>
            <geometry>
                <box size="0.05 0.1 0.02"/>
            </geometry>
        </collision>
    </link>


    <!-- Joint: wrist, wrist_sensor_0_top -->
    <joint name="wrist_wrist_sensor_0_top_joint" type="fixed"> 
        <parent link="wrist"/> 
        <child link="wrist_sensor_0_top"/> 
        <origin xyz="-0.025 0 0.05" rpy="0 0 0"/> 
        <axis xyz="0 -1 0"/> 
    </joint>


    <!-- wrist_sensor_0_bottom -->
    <link name="wrist_sensor_0_bottom">
        <inertial>
            <origin xyz="0 0 0" rpy="0 0 0"/>
            <mass value="0"/>
            <inertia ixx=".1" ixy=".1" ixz=".1" iyy=".1" iyz=".1" izz=".1"/>
        </inertial>
        <visual>
            <origin xyz="0 0 0" rpy="0 0 0"/>
            <geometry>
                <box size="0.05 0.1 0.02"/>
            </geometry>
        </visual>
        <collision>
            <origin xyz="0 0 0" rpy="0 0 0"/>
            <geometry>
                <box size="0.05 0.1 0.02"/>
            </geometry>
        </collision>
    </link>


    <!-- Joint: wrist, wrist_sensor_0_bottom -->
    <joint name="wrist_wrist_sensor_0_bottom_joint" type="fixed"> 
        <parent link="wrist"/> 
        <child link="wrist_sensor_0_bottom"/> 
        <origin xyz="-0.025 0 -0.05" rpy="0 0 0"/> 
        <axis xyz="0 -1 0"/> 
    </joint>


    <!-- wrist_sensor_0_left -->
    <link name="wrist_sensor_0_left">
        <inertial>
            <origin xyz="0 0 0" rpy="0 0 0"/>
            <mass value="0"/>
            <inertia ixx=".1" ixy=".1" ixz=".1" iyy=".1" iyz=".1" izz=".1"/>
        </inertial>
        <visual>
            <origin xyz="0 0 0" rpy="0 0 0"/>
            <geometry>
                <box size="0.05 0.02 0.1"/>
            </geometry>
        </visual>
        <collision>
            <origin xyz="0 0 0" rpy="0 0 0"/>
            <geometry>
                <box size="0.05 0.02 0.1"/>
            </geometry>
        </collision>
    </link>


    <!-- Joint: wrist, wrist_sensor_0_left -->
    <joint name="wrist_wrist_sensor_0_left_joint" type="fixed"> 
        <parent link="wrist"/> 
        <child link="wrist_sensor_0_left"/> 
        <origin xyz="-0.025 0.05 0" rpy="0 0 0"/> 
        <axis xyz="0 -1 0"/> 
    </joint>


    <!-- wrist_sensor_0_right -->
    <link name="wrist_sensor_0_right">
        <inertial>
            <origin xyz="0 0 0" rpy="0 0 0"/>
            <mass value="0"/>
            <inertia ixx=".1" ixy=".1" ixz=".1" iyy=".1" iyz=".1" izz=".1"/>
        </inertial>
        <visual>
            <origin xyz="0 0 0" rpy="0 0 0"/>
            <geometry>
                <box size="0.05 0.02 0.1"/>
            </geometry>
        </visual>
        <collision>
            <origin xyz="0 0 0" rpy="0 0 0"/>
            <geometry>
                <box size="0.05 0.02 0.1"/>
            </geometry>
        </collision>
    </link>


    <!-- Joint: wrist, wrist_sensor_0_right -->
    <joint name="wrist_wrist_sensor_0_right_joint" type="fixed"> 
        <parent link="wrist"/> 
        <child link="wrist_sensor_0_right"/> 
        <origin xyz="-0.025 -0.05 0" rpy="0 0 0"/> 
        <axis xyz="0 -1 0"/> 
    </joint>


    <!-- wrist_sensor_1_stop -->
    <link name="wrist_sensor_1_stop">
        <inertial>
            <origin xyz="0 0 0" rpy="0 0 0"/>
            <mass value="0"/>
            <inertia ixx=".1" ixy=".1" ixz=".1" iyy=".1" iyz=".1" izz=".1"/>
        </inertial>
        <visual>
            <origin xyz="0 0 0" rpy="0 0 0"/>
            <geometry>
                <box size="0.02 0.1 0.1"/>
            </geometry>
        </visual>
        <collision>
            <origin xyz="0 0 0" rpy="0 0 0"/>
            <geometry>
                <box size="0.02 0.1 0.1"/>
            </geometry>
        </collision>
    </link>


    <!-- Joint: wrist, wrist_sensor_1_stop -->
    <joint name="wrist_wrist_sensor_1_stop_joint" type="fixed"> 
        <parent link="wrist"/> 
        <child link="wrist_sensor_1_stop"/> 
        <origin xyz="-0.05 0 0" rpy="0 0 0"/> 
        <axis xyz="0 -1 0"/> 
    </joint>


    <!-- wrist_sensor_1_top -->
    <link name="wrist_sensor_1_top">
        <inertial>
            <origin xyz="0 0 0" rpy="0 0 0"/>
            <mass value="0"/>
            <inertia ixx=".1" ixy=".1" ixz=".1" iyy=".1" iyz=".1" izz=".1"/>
        </inertial>
        <visual>
            <origin xyz="0 0 0" rpy="0 0 0"/>
            <geometry>
                <box size="0.05 0.1 0.02"/>
            </geometry>
        </visual>
        <collision>
            <origin xyz="0 0 0" rpy="0 0 0"/>
            <geometry>
                <box size="0.05 0.1 0.02"/>
            </geometry>
        </collision>
    </link>


    <!-- Joint: wrist, wrist_sensor_1_top -->
    <joint name="wrist_wrist_sensor_1_top_joint" type="fixed"> 
        <parent link="wrist"/> 
        <child link="wrist_sensor_1_top"/> 
        <origin xyz="0.025 0 0.05" rpy="0 0 0"/> 
        <axis xyz="0 -1 0"/> 
    </joint>


    <!-- wrist_sensor_1_bottom -->
    <link name="wrist_sensor_1_bottom">
        <inertial>
            <origin xyz="0 0 0" rpy="0 0 0"/>
            <mass value="0"/>
            <inertia ixx=".1" ixy=".1" ixz=".1" iyy=".1" iyz=".1" izz=".1"/>
        </inertial>
        <visual>
            <origin xyz="0 0 0" rpy="0 0 0"/>
            <geometry>
                <box size="0.05 0.1 0.02"/>
            </geometry>
        </visual>
        <collision>
            <origin xyz="0 0 0" rpy="0 0 0"/>
            <geometry>
                <box size="0.05 0.1 0.02"/>
            </geometry>
        </collision>
    </link>


    <!-- Joint: wrist, wrist_sensor_1_bottom -->
    <joint name="wrist_wrist_sensor_1_bottom_joint" type="fixed"> 
        <parent link="wrist"/> 
        <child link="wrist_sensor_1_bottom"/> 
        <origin xyz="0.025 0 -0.05" rpy="0 0 0"/> 
        <axis xyz="0 -1 0"/> 
    </joint>


    <!-- wrist_sensor_1_left -->
    <link name="wrist_sensor_1_left">
        <inertial>
            <origin xyz="0 0 0" rpy="0 0 0"/>
            <mass value="0"/>
            <inertia ixx=".1" ixy=".1" ixz=".1" iyy=".1" iyz=".1" izz=".1"/>
        </inertial>
        <visual>
            <origin xyz="0 0 0" rpy="0 0 0"/>
            <geometry>
                <box size="0.05 0.02 0.1"/>
            </geometry>
        </visual>
        <collision>
            <origin xyz="0 0 0" rpy="0 0 0"/>
            <geometry>
                <box size="0.05 0.02 0.1"/>
            </geometry>
        </collision>
    </link>


    <!-- Joint: wrist, wrist_sensor_1_left -->
    <joint name="wrist_wrist_sensor_1_left_joint" type="fixed"> 
        <parent link="wrist"/> 
        <child link="wrist_sensor_1_left"/> 
        <origin xyz="0.025 0.05 0" rpy="0 0 0"/> 
        <axis xyz="0 -1 0"/> 
    </joint>


    <!-- wrist_sensor_1_right -->
    <link name="wrist_sensor_1_right">
        <inertial>
            <origin xyz="0 0 0" rpy="0 0 0"/>
            <mass value="0"/>
            <inertia ixx=".1" ixy=".1" ixz=".1" iyy=".1" iyz=".1" izz=".1"/>
        </inertial>
        <visual>
            <origin xyz="0 0 0" rpy="0 0 0"/>
            <geometry>
                <box size="0.05 0.02 0.1"/>
            </geometry>
        </visual>
        <collision>
            <origin xyz="0 0 0" rpy="0 0 0"/>
            <geometry>
                <box size="0.05 0.02 0.1"/>
            </geometry>
        </collision>
    </link>


    <!-- Joint: wrist, wrist_sensor_1_right -->
    <joint name="wrist_wrist_sensor_1_right_joint" type="fixed"> 
        <parent link="wrist"/> 
        <child link="wrist_sensor_1_right"/> 
        <origin xyz="0.025 -0.05 0" rpy="0 0 0"/> 
        <axis xyz="0 -1 0"/> 
    </joint>


    <!-- Joint: arm_2, wrist -->
    <joint name="arm_2_wrist_joint" type="continuous"> 
        <parent link="arm_2"/> 
        <child link="wrist"/> 
        <origin xyz="0 0 0.55" rpy="0 0 0"/> 
        <axis xyz="0 -1 0"/> 
    </joint>


    <!-- hand_1 -->
    <link name="hand_1">
        <inertial>
            <origin xyz="0 0 0" rpy="0 0 0"/>
            <mass value="0.1"/>
            <inertia ixx=".1" ixy=".1" ixz=".1" iyy=".1" iyz=".1" izz=".1"/>
        </inertial>
        <visual>
            <origin xyz="0 0 0" rpy="0 0 0"/>
            <geometry>
                <box size="0.1 0.1 1"/>
            </geometry>
        </visual>
        <collision>
            <origin xyz="0 0 0" rpy="0 0 0"/>
            <geometry>
                <box size="0.1 0.1 1"/>
            </geometry>
        </collision>
    </link>


    <!-- hand_1_sensor_0_start -->
    <link name="hand_1_sensor_0_start">
        <inertial>
            <origin xyz="0 0 0" rpy="0 0 0"/>
            <mass value="0"/>
            <inertia ixx=".1" ixy=".1" ixz=".1" iyy=".1" iyz=".1" izz=".1"/>
        </inertial>
        <visual>
            <origin xyz="0 0 0" rpy="0 0 0"/>
            <geometry>
                <box size="0.02 0.1 1"/>
            </geometry>
        </visual>
        <collision>
            <origin xyz="0 0 0" rpy="0 0 0"/>
            <geometry>
                <box size="0.02 0.1 1"/>
            </geometry>
        </collision>
    </link>


    <!-- Joint: hand_1, hand_1_sensor_0_start -->
    <joint name="hand_1_hand_1_sensor_0_start_joint" type="fixed"> 
        <parent link="hand_1"/> 
        <child link="hand_1_sensor_0_start"/> 
        <origin xyz="0.05 0 0" rpy="0 0 0"/> 
        <axis xyz="1 0 0"/> 
    </joint>


    <!-- hand_1_sensor_0_top -->
    <link name="hand_1_sensor_0_top">
        <inertial>
            <origin xyz="0 0 0" rpy="0 0 0"/>
            <mass value="0"/>
            <inertia ixx=".1" ixy=".1" ixz=".1" iyy=".1" iyz=".1" izz=".1"/>
        </inertial>
        <visual>
            <origin xyz="0 0 0" rpy="0 0 0"/>
            <geometry>
                <box size="0.05 0.1 0.02"/>
            </geometry>
        </visual>
        <collision>
            <origin xyz="0 0 0" rpy="0 0 0"/>
            <geometry>
                <box size="0.05 0.1 0.02"/>
            </geometry>
        </collision>
    </link>


    <!-- Joint: hand_1, hand_1_sensor_0_top -->
    <joint name="hand_1_hand_1_sensor_0_top_joint" type="fixed"> 
        <parent link="hand_1"/> 
        <child link="hand_1_sensor_0_top"/> 
        <origin xyz="-0.025 0 0.5" rpy="0 0 0"/> 
        <axis xyz="1 0 0"/> 
    </joint>


    <!-- hand_1_sensor_0_bottom -->
    <link name="hand_1_sensor_0_bottom">
        <inertial>
            <origin xyz="0 0 0" rpy="0 0 0"/>
            <mass value="0"/>
            <inertia ixx=".1" ixy=".1" ixz=".1" iyy=".1" iyz=".1" izz=".1"/>
        </inertial>
        <visual>
            <origin xyz="0 0 0" rpy="0 0 0"/>
            <geometry>
                <box size="0.05 0.1 0.02"/>
            </geometry>
        </visual>
        <collision>
            <origin xyz="0 0 0" rpy="0 0 0"/>
            <geometry>
                <box size="0.05 0.1 0.02"/>
            </geometry>
        </collision>
    </link>


    <!-- Joint: hand_1, hand_1_sensor_0_bottom -->
    <joint name="hand_1_hand_1_sensor_0_bottom_joint" type="fixed"> 
        <parent link="hand_1"/> 
        <child link="hand_1_sensor_0_bottom"/> 
        <origin xyz="-0.025 0 -0.5" rpy="0 0 0"/> 
        <axis xyz="1 0 0"/> 
    </joint>


    <!-- hand_1_sensor_0_left -->
    <link name="hand_1_sensor_0_left">
        <inertial>
            <origin xyz="0 0 0" rpy="0 0 0"/>
            <mass value="0"/>
            <inertia ixx=".1" ixy=".1" ixz=".1" iyy=".1" iyz=".1" izz=".1"/>
        </inertial>
        <visual>
            <origin xyz="0 0 0" rpy="0 0 0"/>
            <geometry>
                <box size="0.05 0.02 1"/>
            </geometry>
        </visual>
        <collision>
            <origin xyz="0 0 0" rpy="0 0 0"/>
            <geometry>
                <box size="0.05 0.02 1"/>
            </geometry>
        </collision>
    </link>


    <!-- Joint: hand_1, hand_1_sensor_0_left -->
    <joint name="hand_1_hand_1_sensor_0_left_joint" type="fixed"> 
        <parent link="hand_1"/> 
        <child link="hand_1_sensor_0_left"/> 
        <origin xyz="-0.025 0.05 0" rpy="0 0 0"/> 
        <axis xyz="1 0 0"/> 
    </joint>


    <!-- hand_1_sensor_0_right -->
    <link name="hand_1_sensor_0_right">
        <inertial>
            <origin xyz="0 0 0" rpy="0 0 0"/>
            <mass value="0"/>
            <inertia ixx=".1" ixy=".1" ixz=".1" iyy=".1" iyz=".1" izz=".1"/>
        </inertial>
        <visual>
            <origin xyz="0 0 0" rpy="0 0 0"/>
            <geometry>
                <box size="0.05 0.02 1"/>
            </geometry>
        </visual>
        <collision>
            <origin xyz="0 0 0" rpy="0 0 0"/>
            <geometry>
                <box size="0.05 0.02 1"/>
            </geometry>
        </collision>
    </link>


    <!-- Joint: hand_1, hand_1_sensor_0_right -->
    <joint name="hand_1_hand_1_sensor_0_right_joint" type="fixed"> 
        <parent link="hand_1"/> 
        <child link="hand_1_sensor_0_right"/> 
        <origin xyz="-0.025 -0.05 0" rpy="0 0 0"/> 
        <axis xyz="1 0 0"/> 
    </joint>


    <!-- hand_1_sensor_1_stop -->
    <link name="hand_1_sensor_1_stop">
        <inertial>
            <origin xyz="0 0 0" rpy="0 0 0"/>
            <mass value="0"/>
            <inertia ixx=".1" ixy=".1" ixz=".1" iyy=".1" iyz=".1" izz=".1"/>
        </inertial>
        <visual>
            <origin xyz="0 0 0" rpy="0 0 0"/>
            <geometry>
                <box size="0.02 0.1 1"/>
            </geometry>
        </visual>
        <collision>
            <origin xyz="0 0 0" rpy="0 0 0"/>
            <geometry>
                <box size="0.02 0.1 1"/>
            </geometry>
        </collision>
    </link>


    <!-- Joint: hand_1, hand_1_sensor_1_stop -->
    <joint name="hand_1_hand_1_sensor_1_stop_joint" type="fixed"> 
        <parent link="hand_1"/> 
        <child link="hand_1_sensor_1_stop"/> 
        <origin xyz="-0.05 0 0" rpy="0 0 0"/> 
        <axis xyz="1 0 0"/> 
    </joint>


    <!-- hand_1_sensor_1_top -->
    <link name="hand_1_sensor_1_top">
        <inertial>
            <origin xyz="0 0 0" rpy="0 0 0"/>
            <mass value="0"/>
            <inertia ixx=".1" ixy=".1" ixz=".1" iyy=".1" iyz=".1" izz=".1"/>
        </inertial>
        <visual>
            <origin xyz="0 0 0" rpy="0 0 0"/>
            <geometry>
                <box size="0.05 0.1 0.02"/>
            </geometry>
        </visual>
        <collision>
            <origin xyz="0 0 0" rpy="0 0 0"/>
            <geometry>
                <box size="0.05 0.1 0.02"/>
            </geometry>
        </collision>
    </link>


    <!-- Joint: hand_1, hand_1_sensor_1_top -->
    <joint name="hand_1_hand_1_sensor_1_top_joint" type="fixed"> 
        <parent link="hand_1"/> 
        <child link="hand_1_sensor_1_top"/> 
        <origin xyz="0.025 0 0.5" rpy="0 0 0"/> 
        <axis xyz="1 0 0"/> 
    </joint>


    <!-- hand_1_sensor_1_bottom -->
    <link name="hand_1_sensor_1_bottom">
        <inertial>
            <origin xyz="0 0 0" rpy="0 0 0"/>
            <mass value="0"/>
            <inertia ixx=".1" ixy=".1" ixz=".1" iyy=".1" iyz=".1" izz=".1"/>
        </inertial>
        <visual>
            <origin xyz="0 0 0" rpy="0 0 0"/>
            <geometry>
                <box size="0.05 0.1 0.02"/>
            </geometry>
        </visual>
        <collision>
            <origin xyz="0 0 0" rpy="0 0 0"/>
            <geometry>
                <box size="0.05 0.1 0.02"/>
            </geometry>
        </collision>
    </link>


    <!-- Joint: hand_1, hand_1_sensor_1_bottom -->
    <joint name="hand_1_hand_1_sensor_1_bottom_joint" type="fixed"> 
        <parent link="hand_1"/> 
        <child link="hand_1_sensor_1_bottom"/> 
        <origin xyz="0.025 0 -0.5" rpy="0 0 0"/> 
        <axis xyz="1 0 0"/> 
    </joint>


    <!-- hand_1_sensor_1_left -->
    <link name="hand_1_sensor_1_left">
        <inertial>
            <origin xyz="0 0 0" rpy="0 0 0"/>
            <mass value="0"/>
            <inertia ixx=".1" ixy=".1" ixz=".1" iyy=".1" iyz=".1" izz=".1"/>
        </inertial>
        <visual>
            <origin xyz="0 0 0" rpy="0 0 0"/>
            <geometry>
                <box size="0.05 0.02 1"/>
            </geometry>
        </visual>
        <collision>
            <origin xyz="0 0 0" rpy="0 0 0"/>
            <geometry>
                <box size="0.05 0.02 1"/>
            </geometry>
        </collision>
    </link>


    <!-- Joint: hand_1, hand_1_sensor_1_left -->
    <joint name="hand_1_hand_1_sensor_1_left_joint" type="fixed"> 
        <parent link="hand_1"/> 
        <child link="hand_1_sensor_1_left"/> 
        <origin xyz="0.025 0.05 0" rpy="0 0 0"/> 
        <axis xyz="1 0 0"/> 
    </joint>


    <!-- hand_1_sensor_1_right -->
    <link name="hand_1_sensor_1_right">
        <inertial>
            <origin xyz="0 0 0" rpy="0 0 0"/>
            <mass value="0"/>
            <inertia ixx=".1" ixy=".1" ixz=".1" iyy=".1" iyz=".1" izz=".1"/>
        </inertial>
        <visual>
            <origin xyz="0 0 0" rpy="0 0 0"/>
            <geometry>
                <box size="0.05 0.02 1"/>
            </geometry>
        </visual>
        <collision>
            <origin xyz="0 0 0" rpy="0 0 0"/>
            <geometry>
                <box size="0.05 0.02 1"/>
            </geometry>
        </collision>
    </link>


    <!-- Joint: hand_1, hand_1_sensor_1_right -->
    <joint name="hand_1_hand_1_sensor_1_right_joint" type="fixed"> 
        <parent link="hand_1"/> 
        <child link="hand_1_sensor_1_right"/> 
        <origin xyz="0.025 -0.05 0" rpy="0 0 0"/> 
        <axis xyz="1 0 0"/> 
    </joint>


    <!-- Joint: wrist, hand_1 -->
    <joint name="wrist_hand_1_joint" type="fixed"> 
        <parent link="wrist"/> 
        <child link="hand_1"/> 
        <origin xyz="0 0 0.45" rpy="0 0 0"/> 
        <axis xyz="1 0 0"/> 
    </joint>


    <!-- hand_2 -->
    <link name="hand_2">
        <inertial>
            <origin xyz="0 0 0" rpy="0 0 0"/>
            <mass value="0.1"/>
            <inertia ixx=".1" ixy=".1" ixz=".1" iyy=".1" iyz=".1" izz=".1"/>
        </inertial>
        <visual>
            <origin xyz="0 0 0" rpy="0 0 0"/>
            <geometry>
                <box size="0.1 1.5 0.1"/>
            </geometry>
        </visual>
        <collision>
            <origin xyz="0 0 0" rpy="0 0 0"/>
            <geometry>
                <box size="0.1 1.5 0.1"/>
            </geometry>
        </collision>
    </link>


    <!-- Joint: hand_1, hand_2 -->
    <joint name="hand_1_hand_2_joint" type="fixed"> 
        <parent link="hand_1"/> 
        <child link="hand_2"/> 
        <origin xyz="0 0.7 0.55" rpy="0 0 0"/> 
        <axis xyz="0 0 1"/> 
    </joint>


    <!-- hand_3 -->
    <link name="hand_3">
        <inertial>
            <origin xyz="0 0 0" rpy="0 0 0"/>
            <mass value="0.1"/>
            <inertia ixx=".1" ixy=".1" ixz=".1" iyy=".1" iyz=".1" izz=".1"/>
        </inertial>
        <visual>
            <origin xyz="0 0 0" rpy="0 0 0"/>
            <geometry>
                <box size="0.1 0.1 1"/>
            </geometry>
        </visual>
        <collision>
            <origin xyz="0 0 0" rpy="0 0 0"/>
            <geometry>
                <box size="0.1 0.1 1"/>
            </geometry>
        </collision>
    </link>


    <!-- Joint: hand_2, hand_3 -->
    <joint name="hand_2_hand_3_joint" type="fixed"> 
        <parent link="hand_2"/> 
        <child link="hand_3"/> 
        <origin xyz="0 0.7 -0.45" rpy="0 0 0"/> 
        <axis xyz="0 0 1"/> 
    </joint>


    <!-- hand_4 -->
    <link name="hand_4">
        <inertial>
            <origin xyz="0 0 0" rpy="0 0 0"/>
            <mass value="0.1"/>
            <inertia ixx=".1" ixy=".1" ixz=".1" iyy=".1" iyz=".1" izz=".1"/>
        </inertial>
        <visual>
            <origin xyz="0 0 0" rpy="0 0 0"/>
            <geometry>
                <box size="0.1 1.5 0.1"/>
            </geometry>
        </visual>
        <collision>
            <origin xyz="0 0 0" rpy="0 0 0"/>
            <geometry>
                <box size="0.1 1.5 0.1"/>
            </geometry>
        </collision>
    </link>


    <!-- Joint: hand_3, hand_4 -->
    <joint name="hand_3_hand_4_joint" type="fixed"> 
        <parent link="hand_3"/> 
        <child link="hand_4"/> 
        <origin xyz="0 -0.7 -0.45" rpy="0 0 0"/> 
        <axis xyz="0 0 1"/> 
    </joint>


    <!-- body_square_0 -->
    <link name="body_square_0">
        <inertial>
            <origin xyz="0 0 0" rpy="0 0 0"/>
            <mass value="0"/>
            <inertia ixx=".1" ixy=".1" ixz=".1" iyy=".1" iyz=".1" izz=".1"/>
        </inertial>
        <visual>
            <origin xyz="0 0 0" rpy="0 0 0"/>
            <geometry>
                <box size="0.002 0.1111111111111111 0.1111111111111111"/>
            </geometry>
        </visual>
        <collision>
            <origin xyz="0 0 0" rpy="0 0 0"/>
            <geometry>
                <box size="0.002 0.1111111111111111 0.1111111111111111"/>
            </geometry>
        </collision>
    </link>


    <!-- Joint: body, body_square_0 -->
    <joint name="body_body_square_0_joint" type="fixed"> 
        <parent link="body"/> 
        <child link="body_square_0"/> 
        <origin xyz="0.501 -0.33333333333333337 0.11111111111111116" rpy="0 0 0"/> 
        <axis xyz="0 0 1"/> 
    </joint>


    <!-- body_square_1 -->
    <link name="body_square_1">
        <inertial>
            <origin xyz="0 0 0" rpy="0 0 0"/>
            <mass value="0"/>
            <inertia ixx=".1" ixy=".1" ixz=".1" iyy=".1" iyz=".1" izz=".1"/>
        </inertial>
        <visual>
            <origin xyz="0 0 0" rpy="0 0 0"/>
            <geometry>
                <box size="0.002 0.1111111111111111 0.1111111111111111"/>
            </geometry>
        </visual>
        <collision>
            <origin xyz="0 0 0" rpy="0 0 0"/>
            <geometry>
                <box size="0.002 0.1111111111111111 0.1111111111111111"/>
            </geometry>
        </collision>
    </link>


    <!-- Joint: body, body_square_1 -->
    <joint name="body_body_square_1_joint" type="fixed"> 
        <parent link="body"/> 
        <child link="body_square_1"/> 
        <origin xyz="0.501 -0.2222222222222222 0.2222222222222222" rpy="0 0 0"/> 
        <axis xyz="0 0 1"/> 
    </joint>


    <!-- body_square_2 -->
    <link name="body_square_2">
        <inertial>
            <origin xyz="0 0 0" rpy="0 0 0"/>
            <mass value="0"/>
            <inertia ixx=".1" ixy=".1" ixz=".1" iyy=".1" iyz=".1" izz=".1"/>
        </inertial>
        <visual>
            <origin xyz="0 0 0" rpy="0 0 0"/>
            <geometry>
                <box size="0.002 0.1111111111111111 0.1111111111111111"/>
            </geometry>
        </visual>
        <collision>
            <origin xyz="0 0 0" rpy="0 0 0"/>
            <geometry>
                <box size="0.002 0.1111111111111111 0.1111111111111111"/>
            </geometry>
        </collision>
    </link>


    <!-- Joint: body, body_square_2 -->
    <joint name="body_body_square_2_joint" type="fixed"> 
        <parent link="body"/> 
        <child link="body_square_2"/> 
        <origin xyz="0.501 -0.1111111111111111 0.11111111111111116" rpy="0 0 0"/> 
        <axis xyz="0 0 1"/> 
    </joint>


    <!-- body_square_3 -->
    <link name="body_square_3">
        <inertial>
            <origin xyz="0 0 0" rpy="0 0 0"/>
            <mass value="0"/>
            <inertia ixx=".1" ixy=".1" ixz=".1" iyy=".1" iyz=".1" izz=".1"/>
        </inertial>
        <visual>
            <origin xyz="0 0 0" rpy="0 0 0"/>
            <geometry>
                <box size="0.002 0.1111111111111111 0.1111111111111111"/>
            </geometry>
        </visual>
        <collision>
            <origin xyz="0 0 0" rpy="0 0 0"/>
            <geometry>
                <box size="0.002 0.1111111111111111 0.1111111111111111"/>
            </geometry>
        </collision>
    </link>


    <!-- Joint: body, body_square_3 -->
    <joint name="body_body_square_3_joint" type="fixed"> 
        <parent link="body"/> 
        <child link="body_square_3"/> 
        <origin xyz="0.501 -0.1111111111111111 -0.2222222222222222" rpy="0 0 0"/> 
        <axis xyz="0 0 1"/> 
    </joint>


    <!-- body_square_4 -->
    <link name="body_square_4">
        <inertial>
            <origin xyz="0 0 0" rpy="0 0 0"/>
            <mass value="0"/>
            <inertia ixx=".1" ixy=".1" ixz=".1" iyy=".1" iyz=".1" izz=".1"/>
        </inertial>
        <visual>
            <origin xyz="0 0 0" rpy="0 0 0"/>
            <geometry>
                <box size="0.002 0.1111111111111111 0.1111111111111111"/>
            </geometry>
        </visual>
        <collision>
            <origin xyz="0 0 0" rpy="0 0 0"/>
            <geometry>
                <box size="0.002 0.1111111111111111 0.1111111111111111"/>
            </geometry>
        </collision>
    </link>


    <!-- Joint: body, body_square_4 -->
    <joint name="body_body_square_4_joint" type="fixed"> 
        <parent link="body"/> 
        <child link="body_square_4"/> 
        <origin xyz="0.501 0.0 -0.2222222222222222" rpy="0 0 0"/> 
        <axis xyz="0 0 1"/> 
    </joint>


    <!-- body_square_5 -->
    <link name="body_square_5">
        <inertial>
            <origin xyz="0 0 0" rpy="0 0 0"/>
            <mass value="0"/>
            <inertia ixx=".1" ixy=".1" ixz=".1" iyy=".1" iyz=".1" izz=".1"/>
        </inertial>
        <visual>
            <origin xyz="0 0 0" rpy="0 0 0"/>
            <geometry>
                <box size="0.002 0.1111111111111111 0.1111111111111111"/>
            </geometry>
        </visual>
        <collision>
            <origin xyz="0 0 0" rpy="0 0 0"/>
            <geometry>
                <box size="0.002 0.1111111111111111 0.1111111111111111"/>
            </geometry>
        </collision>
    </link>


    <!-- Joint: body, body_square_5 -->
    <joint name="body_body_square_5_joint" type="fixed"> 
        <parent link="body"/> 
        <child link="body_square_5"/> 
        <origin xyz="0.501 0.11111111111111116 0.11111111111111116" rpy="0 0 0"/> 
        <axis xyz="0 0 1"/> 
    </joint>


    <!-- body_square_6 -->
    <link name="body_square_6">
        <inertial>
            <origin xyz="0 0 0" rpy="0 0 0"/>
            <mass value="0"/>
            <inertia ixx=".1" ixy=".1" ixz=".1" iyy=".1" iyz=".1" izz=".1"/>
        </inertial>
        <visual>
            <origin xyz="0 0 0" rpy="0 0 0"/>
            <geometry>
                <box size="0.002 0.1111111111111111 0.1111111111111111"/>
            </geometry>
        </visual>
        <collision>
            <origin xyz="0 0 0" rpy="0 0 0"/>
            <geometry>
                <box size="0.002 0.1111111111111111 0.1111111111111111"/>
            </geometry>
        </collision>
    </link>


    <!-- Joint: body, body_square_6 -->
    <joint name="body_body_square_6_joint" type="fixed"> 
        <parent link="body"/> 
        <child link="body_square_6"/> 
        <origin xyz="0.501 0.11111111111111116 -0.2222222222222222" rpy="0 0 0"/> 
        <axis xyz="0 0 1"/> 
    </joint>


    <!-- body_square_7 -->
    <link name="body_square_7">
        <inertial>
            <origin xyz="0 0 0" rpy="0 0 0"/>
            <mass value="0"/>
            <inertia ixx=".1" ixy=".1" ixz=".1" iyy=".1" iyz=".1" izz=".1"/>
        </inertial>
        <visual>
            <origin xyz="0 0 0" rpy="0 0 0"/>
            <geometry>
                <box size="0.002 0.1111111111111111 0.1111111111111111"/>
            </geometry>
        </visual>
        <collision>
            <origin xyz="0 0 0" rpy="0 0 0"/>
            <geometry>
                <box size="0.002 0.1111111111111111 0.1111111111111111"/>
            </geometry>
        </collision>
    </link>


    <!-- Joint: body, body_square_7 -->
    <joint name="body_body_square_7_joint" type="fixed"> 
        <parent link="body"/> 
        <child link="body_square_7"/> 
        <origin xyz="0.501 0.2222222222222222 0.2222222222222222" rpy="0 0 0"/> 
        <axis xyz="0 0 1"/> 
    </joint>


    <!-- body_square_8 -->
    <link name="body_square_8">
        <inertial>
            <origin xyz="0 0 0" rpy="0 0 0"/>
            <mass value="0"/>
            <inertia ixx=".1" ixy=".1" ixz=".1" iyy=".1" iyz=".1" izz=".1"/>
        </inertial>
        <visual>
            <origin xyz="0 0 0" rpy="0 0 0"/>
            <geometry>
                <box size="0.002 0.1111111111111111 0.1111111111111111"/>
            </geometry>
        </visual>
        <collision>
            <origin xyz="0 0 0" rpy="0 0 0"/>
            <geometry>
                <box size="0.002 0.1111111111111111 0.1111111111111111"/>
            </geometry>
        </collision>
    </link>


    <!-- Joint: body, body_square_8 -->
    <joint name="body_body_square_8_joint" type="fixed"> 
        <parent link="body"/> 
        <child link="body_square_8"/> 
        <origin xyz="0.501 0.33333333333333337 0.11111111111111116" rpy="0 0 0"/> 
        <axis xyz="0 0 1"/> 
    </joint>


    <!-- body_square_9 -->
    <link name="body_square_9">
        <inertial>
            <origin xyz="0 0 0" rpy="0 0 0"/>
            <mass value="0"/>
            <inertia ixx=".1" ixy=".1" ixz=".1" iyy=".1" iyz=".1" izz=".1"/>
        </inertial>
        <visual>
            <origin xyz="0 0 0" rpy="0 0 0"/>
            <geometry>
                <box size="0.1111111111111111 0.1111111111111111 0.002"/>
            </geometry>
        </visual>
        <collision>
            <origin xyz="0 0 0" rpy="0 0 0"/>
            <geometry>
                <box size="0.1111111111111111 0.1111111111111111 0.002"/>
            </geometry>
        </collision>
    </link>


    <!-- Joint: body, body_square_9 -->
    <joint name="body_body_square_9_joint" type="fixed"> 
        <parent link="body"/> 
        <child link="body_square_9"/> 
        <origin xyz="0.11111111111111116 -0.2222222222222222 0.501" rpy="0 0 0"/> 
        <axis xyz="0 0 1"/> 
    </joint>


    <!-- body_square_10 -->
    <link name="body_square_10">
        <inertial>
            <origin xyz="0 0 0" rpy="0 0 0"/>
            <mass value="0"/>
            <inertia ixx=".1" ixy=".1" ixz=".1" iyy=".1" iyz=".1" izz=".1"/>
        </inertial>
        <visual>
            <origin xyz="0 0 0" rpy="0 0 0"/>
            <geometry>
                <box size="0.1111111111111111 0.1111111111111111 0.002"/>
            </geometry>
        </visual>
        <collision>
            <origin xyz="0 0 0" rpy="0 0 0"/>
            <geometry>
                <box size="0.1111111111111111 0.1111111111111111 0.002"/>
            </geometry>
        </collision>
    </link>


    <!-- Joint: body, body_square_10 -->
    <joint name="body_body_square_10_joint" type="fixed"> 
        <parent link="body"/> 
        <child link="body_square_10"/> 
        <origin xyz="0.11111111111111116 -0.1111111111111111 0.501" rpy="0 0 0"/> 
        <axis xyz="0 0 1"/> 
    </joint>


    <!-- body_square_11 -->
    <link name="body_square_11">
        <inertial>
            <origin xyz="0 0 0" rpy="0 0 0"/>
            <mass value="0"/>
            <inertia ixx=".1" ixy=".1" ixz=".1" iyy=".1" iyz=".1" izz=".1"/>
        </inertial>
        <visual>
            <origin xyz="0 0 0" rpy="0 0 0"/>
            <geometry>
                <box size="0.1111111111111111 0.1111111111111111 0.002"/>
            </geometry>
        </visual>
        <collision>
            <origin xyz="0 0 0" rpy="0 0 0"/>
            <geometry>
                <box size="0.1111111111111111 0.1111111111111111 0.002"/>
            </geometry>
        </collision>
    </link>


    <!-- Joint: body, body_square_11 -->
    <joint name="body_body_square_11_joint" type="fixed"> 
        <parent link="body"/> 
        <child link="body_square_11"/> 
        <origin xyz="0.2222222222222222 -0.1111111111111111 0.501" rpy="0 0 0"/> 
        <axis xyz="0 0 1"/> 
    </joint>


    <!-- body_square_12 -->
    <link name="body_square_12">
        <inertial>
            <origin xyz="0 0 0" rpy="0 0 0"/>
            <mass value="0"/>
            <inertia ixx=".1" ixy=".1" ixz=".1" iyy=".1" iyz=".1" izz=".1"/>
        </inertial>
        <visual>
            <origin xyz="0 0 0" rpy="0 0 0"/>
            <geometry>
                <box size="0.1111111111111111 0.1111111111111111 0.002"/>
            </geometry>
        </visual>
        <collision>
            <origin xyz="0 0 0" rpy="0 0 0"/>
            <geometry>
                <box size="0.1111111111111111 0.1111111111111111 0.002"/>
            </geometry>
        </collision>
    </link>


    <!-- Joint: body, body_square_12 -->
    <joint name="body_body_square_12_joint" type="fixed"> 
        <parent link="body"/> 
        <child link="body_square_12"/> 
        <origin xyz="-0.33333333333333337 0.0 0.501" rpy="0 0 0"/> 
        <axis xyz="0 0 1"/> 
    </joint>


    <!-- body_square_13 -->
    <link name="body_square_13">
        <inertial>
            <origin xyz="0 0 0" rpy="0 0 0"/>
            <mass value="0"/>
            <inertia ixx=".1" ixy=".1" ixz=".1" iyy=".1" iyz=".1" izz=".1"/>
        </inertial>
        <visual>
            <origin xyz="0 0 0" rpy="0 0 0"/>
            <geometry>
                <box size="0.1111111111111111 0.1111111111111111 0.002"/>
            </geometry>
        </visual>
        <collision>
            <origin xyz="0 0 0" rpy="0 0 0"/>
            <geometry>
                <box size="0.1111111111111111 0.1111111111111111 0.002"/>
            </geometry>
        </collision>
    </link>


    <!-- Joint: body, body_square_13 -->
    <joint name="body_body_square_13_joint" type="fixed"> 
        <parent link="body"/> 
        <child link="body_square_13"/> 
        <origin xyz="-0.2222222222222222 0.0 0.501" rpy="0 0 0"/> 
        <axis xyz="0 0 1"/> 
    </joint>


    <!-- body_square_14 -->
    <link name="body_square_14">
        <inertial>
            <origin xyz="0 0 0" rpy="0 0 0"/>
            <mass value="0"/>
            <inertia ixx=".1" ixy=".1" ixz=".1" iyy=".1" iyz=".1" izz=".1"/>
        </inertial>
        <visual>
            <origin xyz="0 0 0" rpy="0 0 0"/>
            <geometry>
                <box size="0.1111111111111111 0.1111111111111111 0.002"/>
            </geometry>
        </visual>
        <collision>
            <origin xyz="0 0 0" rpy="0 0 0"/>
            <geometry>
                <box size="0.1111111111111111 0.1111111111111111 0.002"/>
            </geometry>
        </collision>
    </link>


    <!-- Joint: body, body_square_14 -->
    <joint name="body_body_square_14_joint" type="fixed"> 
        <parent link="body"/> 
        <child link="body_square_14"/> 
        <origin xyz="-0.1111111111111111 0.0 0.501" rpy="0 0 0"/> 
        <axis xyz="0 0 1"/> 
    </joint>


    <!-- body_square_15 -->
    <link name="body_square_15">
        <inertial>
            <origin xyz="0 0 0" rpy="0 0 0"/>
            <mass value="0"/>
            <inertia ixx=".1" ixy=".1" ixz=".1" iyy=".1" iyz=".1" izz=".1"/>
        </inertial>
        <visual>
            <origin xyz="0 0 0" rpy="0 0 0"/>
            <geometry>
                <box size="0.1111111111111111 0.1111111111111111 0.002"/>
            </geometry>
        </visual>
        <collision>
            <origin xyz="0 0 0" rpy="0 0 0"/>
            <geometry>
                <box size="0.1111111111111111 0.1111111111111111 0.002"/>
            </geometry>
        </collision>
    </link>


    <!-- Joint: body, body_square_15 -->
    <joint name="body_body_square_15_joint" type="fixed"> 
        <parent link="body"/> 
        <child link="body_square_15"/> 
        <origin xyz="0.0 0.0 0.501" rpy="0 0 0"/> 
        <axis xyz="0 0 1"/> 
    </joint>


    <!-- body_square_16 -->
    <link name="body_square_16">
        <inertial>
            <origin xyz="0 0 0" rpy="0 0 0"/>
            <mass value="0"/>
            <inertia ixx=".1" ixy=".1" ixz=".1" iyy=".1" iyz=".1" izz=".1"/>
        </inertial>
        <visual>
            <origin xyz="0 0 0" rpy="0 0 0"/>
            <geometry>
                <box size="0.1111111111111111 0.1111111111111111 0.002"/>
            </geometry>
        </visual>
        <collision>
            <origin xyz="0 0 0" rpy="0 0 0"/>
            <geometry>
                <box size="0.1111111111111111 0.1111111111111111 0.002"/>
            </geometry>
        </collision>
    </link>


    <!-- Joint: body, body_square_16 -->
    <joint name="body_body_square_16_joint" type="fixed"> 
        <parent link="body"/> 
        <child link="body_square_16"/> 
        <origin xyz="0.11111111111111116 0.0 0.501" rpy="0 0 0"/> 
        <axis xyz="0 0 1"/> 
    </joint>


    <!-- body_square_17 -->
    <link name="body_square_17">
        <inertial>
            <origin xyz="0 0 0" rpy="0 0 0"/>
            <mass value="0"/>
            <inertia ixx=".1" ixy=".1" ixz=".1" iyy=".1" iyz=".1" izz=".1"/>
        </inertial>
        <visual>
            <origin xyz="0 0 0" rpy="0 0 0"/>
            <geometry>
                <box size="0.1111111111111111 0.1111111111111111 0.002"/>
            </geometry>
        </visual>
        <collision>
            <origin xyz="0 0 0" rpy="0 0 0"/>
            <geometry>
                <box size="0.1111111111111111 0.1111111111111111 0.002"/>
            </geometry>
        </collision>
    </link>


    <!-- Joint: body, body_square_17 -->
    <joint name="body_body_square_17_joint" type="fixed"> 
        <parent link="body"/> 
        <child link="body_square_17"/> 
        <origin xyz="0.2222222222222222 0.0 0.501" rpy="0 0 0"/> 
        <axis xyz="0 0 1"/> 
    </joint>


    <!-- body_square_18 -->
    <link name="body_square_18">
        <inertial>
            <origin xyz="0 0 0" rpy="0 0 0"/>
            <mass value="0"/>
            <inertia ixx=".1" ixy=".1" ixz=".1" iyy=".1" iyz=".1" izz=".1"/>
        </inertial>
        <visual>
            <origin xyz="0 0 0" rpy="0 0 0"/>
            <geometry>
                <box size="0.1111111111111111 0.1111111111111111 0.002"/>
            </geometry>
        </visual>
        <collision>
            <origin xyz="0 0 0" rpy="0 0 0"/>
            <geometry>
                <box size="0.1111111111111111 0.1111111111111111 0.002"/>
            </geometry>
        </collision>
    </link>


    <!-- Joint: body, body_square_18 -->
    <joint name="body_body_square_18_joint" type="fixed"> 
        <parent link="body"/> 
        <child link="body_square_18"/> 
        <origin xyz="0.33333333333333337 0.0 0.501" rpy="0 0 0"/> 
        <axis xyz="0 0 1"/> 
    </joint>


    <!-- body_square_19 -->
    <link name="body_square_19">
        <inertial>
            <origin xyz="0 0 0" rpy="0 0 0"/>
            <mass value="0"/>
            <inertia ixx=".1" ixy=".1" ixz=".1" iyy=".1" iyz=".1" izz=".1"/>
        </inertial>
        <visual>
            <origin xyz="0 0 0" rpy="0 0 0"/>
            <geometry>
                <box size="0.1111111111111111 0.1111111111111111 0.002"/>
            </geometry>
        </visual>
        <collision>
            <origin xyz="0 0 0" rpy="0 0 0"/>
            <geometry>
                <box size="0.1111111111111111 0.1111111111111111 0.002"/>
            </geometry>
        </collision>
    </link>


    <!-- Joint: body, body_square_19 -->
    <joint name="body_body_square_19_joint" type="fixed"> 
        <parent link="body"/> 
        <child link="body_square_19"/> 
        <origin xyz="0.11111111111111116 0.11111111111111116 0.501" rpy="0 0 0"/> 
        <axis xyz="0 0 1"/> 
    </joint>


    <!-- body_square_20 -->
    <link name="body_square_20">
        <inertial>
            <origin xyz="0 0 0" rpy="0 0 0"/>
            <mass value="0"/>
            <inertia ixx=".1" ixy=".1" ixz=".1" iyy=".1" iyz=".1" izz=".1"/>
        </inertial>
        <visual>
            <origin xyz="0 0 0" rpy="0 0 0"/>
            <geometry>
                <box size="0.1111111111111111 0.1111111111111111 0.002"/>
            </geometry>
        </visual>
        <collision>
            <origin xyz="0 0 0" rpy="0 0 0"/>
            <geometry>
                <box size="0.1111111111111111 0.1111111111111111 0.002"/>
            </geometry>
        </collision>
    </link>


    <!-- Joint: body, body_square_20 -->
    <joint name="body_body_square_20_joint" type="fixed"> 
        <parent link="body"/> 
        <child link="body_square_20"/> 
        <origin xyz="0.2222222222222222 0.11111111111111116 0.501" rpy="0 0 0"/> 
        <axis xyz="0 0 1"/> 
    </joint>


    <!-- body_square_21 -->
    <link name="body_square_21">
        <inertial>
            <origin xyz="0 0 0" rpy="0 0 0"/>
            <mass value="0"/>
            <inertia ixx=".1" ixy=".1" ixz=".1" iyy=".1" iyz=".1" izz=".1"/>
        </inertial>
        <visual>
            <origin xyz="0 0 0" rpy="0 0 0"/>
            <geometry>
                <box size="0.1111111111111111 0.1111111111111111 0.002"/>
            </geometry>
        </visual>
        <collision>
            <origin xyz="0 0 0" rpy="0 0 0"/>
            <geometry>
                <box size="0.1111111111111111 0.1111111111111111 0.002"/>
            </geometry>
        </collision>
    </link>


    <!-- Joint: body, body_square_21 -->
    <joint name="body_body_square_21_joint" type="fixed"> 
        <parent link="body"/> 
        <child link="body_square_21"/> 
        <origin xyz="0.11111111111111116 0.2222222222222222 0.501" rpy="0 0 0"/> 
        <axis xyz="0 0 1"/> 
    </joint>


</robot>
